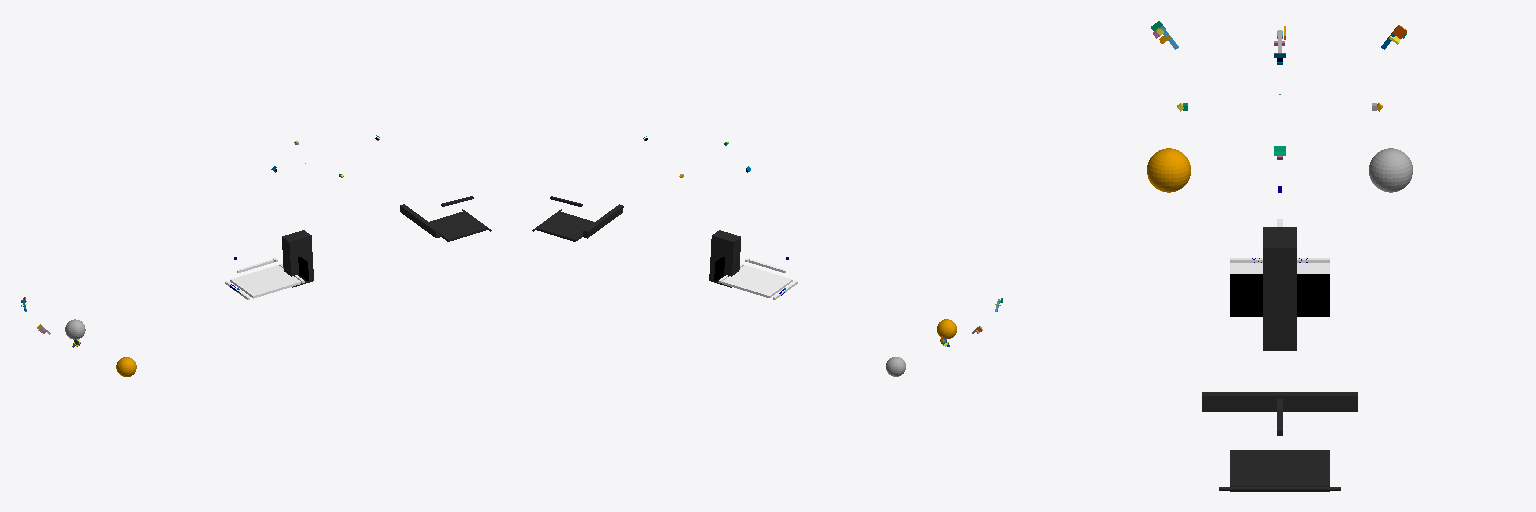
--- What the picture shows (computed from the rendered views, not written in the file) ---
Views: 3 orthographic renders of the robot side by side, from view 1: azimuth 30°, elevation 25°; view 2: azimuth 150°, elevation 25°; view 3: azimuth 270°, elevation 25°.
Robot: kubo — 121 links, 120 joints (5 revolute, 4 continuous, 111 fixed); root link base_link; default pose: all joints at 0.
Visible links, largest first — view 1: hitch_rear_lower_linkage, tractor_chassis, lower_linkage_front; view 2: hitch_rear_lower_linkage, tractor_chassis, lower_linkage_front; view 3: tractor_chassis, lower_linkage_front, frontaxle, hitch_rear_base_link, implement_caster_wheel_left, implement_caster_wheel_right, hitch_rear_lower_linkage.
Link boxes in pixels (<box>): hitch_rear_lower_linkage: <box>230,265,300,298</box>; tractor_chassis: <box>282,230,313,287</box>; lower_linkage_front: <box>430,211,487,241</box>; hitch_rear_lower_linkage: <box>722,265,792,297</box>; tractor_chassis: <box>709,230,740,287</box>; lower_linkage_front: <box>536,211,593,241</box>; tractor_chassis: <box>1263,227,1296,350</box>; lower_linkage_front: <box>1230,450,1329,491</box>; frontaxle: <box>1202,392,1357,411</box>; hitch_rear_base_link: <box>1230,274,1329,316</box>; implement_caster_wheel_left: <box>1369,148,1412,192</box>; implement_caster_wheel_right: <box>1147,148,1190,192</box>; hitch_rear_lower_linkage: <box>1230,263,1329,273</box>.
Bounding box of the posed robot: 9.91 × 2.4 × 3.34 m (x, y, z).
2 mesh visuals loaded from 1 distinct referenced files (1 Collada DAE); not drawn: 17 (reference in a form the renderer does not follow; not among the files counted above).

The robot description file, URDF, robot "kubo":
<?xml version="1.0" ?>
<!-- =================================================================================== -->
<!-- |    This document was autogenerated by xacro from lemken_john_deere_6r.urdf.xacro | -->
<!-- |    EDITING THIS FILE BY HAND IS NOT RECOMMENDED                                 | -->
<!-- =================================================================================== -->
<robot name="kubo">
  <!-- DISCLAIMER -->
  <!-- 
        Due to the nature of xacro and to avoid macros with long param list.
        We decided to have a file with global variables for the definition of the vehicles. This global
        variables shoudln't be used in any other file that isn't: 
        * variables.urdf.xacro
        * macros.shocks.urdf.xacro
        * macros.wheels.urdf.xacro
        * desciption.urdf.xacro
        -->
  <!-- chassis_length is measured along the x axis, chassis_width
       along the y axis, and chassis_height along the z axis.
       Note: Size of chassis won't affect wheel position or function, so be
       careful about making it too big-->
  <!-- base_link -->
  <link name="base_link"/>
  <!-- Robot Footprint -->
  <link name="base_footprint"/>
  <joint name="base_joint" type="fixed">
    <parent link="base_link"/>
    <child link="base_footprint"/>
    <origin rpy="0 0 0" xyz="1.3825 0.0 0.0"/>
  </joint>
  <!-- Chassis -->
  <link name="tractor_chassis">
    <visual>
      <origin xyz="0 0 0"/>
      <geometry>
        <box size="0.5 0.3 1.0"/>
      </geometry>
      <material name="grey">
        <color rgba="0.2 0.2 0.2 1.0"/>
      </material>
    </visual>
    <!--collision>
                                <origin xyz="0 0 0" rpy=" 0 0 0" />
                                <geometry>
                                        <box size="${chassis_length} ${chassis_width} ${chassis_height}" />
                                </geometry>
                        </collision-->
    <inertial>
      <origin rpy=" 0 0 0" xyz="0 0 0"/>
      <mass value="500"/>
      <inertia ixx="45.416666666666664" ixy="0" ixz="0" iyy="52.083333333333336" iyz="0" izz="14.166666666666664"/>
    </inertial>
  </link>
  <joint name="base_link_to_chassis" type="fixed">
    <parent link="base_link"/>
    <child link="tractor_chassis"/>
    <origin rpy="0 -0.06 0" xyz="0 0 1.0"/>
    <!-- rpy="0 -0.05 0" -->
  </joint>
  <!-- std_vehicle_frame -->
  <link name="std_vehicle_frame"/>
  <joint name="std_vehicle_frame_joint" type="fixed">
    <parent link="tractor_chassis"/>
    <child link="std_vehicle_frame"/>
    <origin rpy="0 0 0" xyz="1.3825 0.0 -0.05500000000000005"/>
  </joint>
  <!-- cover -->
  <link name="cover">
    <visual>
      <origin rpy="0 0 1.57079633" xyz="1.22 0.0 -0.945"/>
      <geometry>
        <mesh filename="file://[local-path]/ws/common_ws/install/vehicle_description/share/vehicle_description/models/john_deere_6r/meshes/JD6M.dae"/>
      </geometry>
      <material name="grey">
        <color rgba="0.2 0.2 0.2 1.0"/>
      </material>
    </visual>
    <collision>
      <origin rpy="0 0 1.57079633" xyz="1.22 0.0 -0.945"/>
      <geometry>
        <mesh filename="file://[local-path]/ws/common_ws/install/vehicle_description/share/vehicle_description/models/john_deere_6r/meshes/JD6M.dae"/>
      </geometry>
    </collision>
    <inertial>
      <origin xyz="0 0 0"/>
      <mass value="1"/>
      <inertia ixx="0.006666666666666668" ixy="0" ixz="0" iyy="0.5241666666666667" iyz="0" izz="0.5241666666666667"/>
    </inertial>
  </link>
  <joint name="cover_to_chassis" type="fixed">
    <parent link="tractor_chassis"/>
    <child link="cover"/>
    <origin rpy="0 0 0" xyz="0 0 0"/>
  </joint>
  <!-- frontaxle -->
  <link name="frontaxle">
    <visual>
      <origin xyz="0 0 0"/>
      <geometry>
        <box size="0.1 1.4 0.15"/>
      </geometry>
      <material name="grey">
        <color rgba="0.2 0.2 0.2 1.0"/>
      </material>
    </visual>
    <!--collision>
                                <origin xyz="0 0 0" />
                                <geometry>
                                        <box size="0.1 1.4 0.15" />
                                </geometry>
                        </collision-->
    <inertial>
      <origin xyz="0 0 0"/>
      <mass value="0.0001"/>
      <inertia ixx="1.652083333333333e-05" ixy="0" ixz="0" iyy="2.7083333333333337e-07" iyz="0" izz="1.6416666666666665e-05"/>
    </inertial>
  </link>
  <joint name="frontaxle_to_chassis" type="fixed">
    <parent link="tractor_chassis"/>
    <child link="frontaxle"/>
    <origin rpy="0 0 0" xyz="2.765 0 0"/>
    <axis xyz="1 0 0"/>
    <limit effort="0" lower="-0.785398163" upper="0.785398163" velocity="10"/>
  </joint>
  <joint name="left_front_shock" type="fixed">
    <parent link="frontaxle"/>
    <child link="left_steering_link"/>
    <origin xyz="0                    1.05                    -0.2865"/>
    <axis xyz="0 0 -1"/>
    <!--limit lower="${-wheel_travel / 2}" upper="${wheel_travel / 2}" effort="${shock_eff_limit}" velocity="${shock_vel_limit}"/-->
  </joint>
  <!--transmission name="${lr_prefix}_${fr_prefix}_shock_trans">
      <type>transmission_interface/SimpleTransmission</type>
      <joint name="${lr_prefix}_${fr_prefix}_shock">
        <hardwareInterface>hardware_interface/EffortJointInterface</hardwareInterface>
      </joint>
      <actuator name="${lr_prefix}_${fr_prefix}_shock_act"-->
  <!-- This hardwareInterface element exists for compatibility
             with ROS Hydro. -->
  <!--hardwareInterface>hardware_interface/EffortJointInterface</hardwareInterface>
        <mechanicalReduction>1</mechanicalReduction>
      </actuator>
    </transmission-->
  <link name="left_steering_link">
    <!--xacro:null_inertial/-->
    <inertial>
      <mass value="0.001"/>
      <origin rpy=" 0 0 0" xyz="0 0 0"/>
      <inertia ixx="1e-2" ixy="0" ixz="0" iyy="1e-3" iyz="0" izz="1e-3"/>
    </inertial>
  </link>
  <joint name="left_steering_joint" type="revolute">
    <parent link="left_steering_link"/>
    <child link="left_front_axle_carrier"/>
    <axis xyz="0 0 1"/>
    <limit effort="5649" lower="-0.785398163" upper="0.785398163" velocity="4553"/>
  </joint>
  <transmission name="left_steering_trans">
    <type>transmission_interface/SimpleTransmission</type>
    <joint name="left_steering_joint">
      <hardwareInterface>hardware_interface/EffortJointInterface</hardwareInterface>
    </joint>
    <actuator name="left_steering_act">
      <!-- This hardwareInterface element exists for compatibility
             with ROS Hydro. -->
      <hardwareInterface>hardware_interface/EffortJointInterface</hardwareInterface>
      <mechanicalReduction>1</mechanicalReduction>
    </actuator>
  </transmission>
  <link name="left_front_axle_carrier">
    <inertial>
      <mass value="0.0005"/>
      <origin rpy=" 0 0 0" xyz="0 0 0"/>
      <inertia ixx="0.001" ixy="0" ixz="0" iyy="0.001" iyz="0" izz="0.001"/>
    </inertial>
  </link>
  <!-- The left and right axles have the same axis so that identical
         rotation values cause the wheels to rotate in the same direction. -->
  <joint name="left_front_axle" type="continuous">
    <parent link="left_front_axle_carrier"/>
    <child link="left_front_wheel"/>
    <origin rpy="1.57079633 0 0"/>
    <axis xyz="0 0 -1"/>
    <limit effort="512766" velocity="100"/>
  </joint>
  <transmission name="left_front_axle_trans">
    <type>transmission_interface/SimpleTransmission</type>
    <joint name="left_front_axle">
      <hardwareInterface>hardware_interface/EffortJointInterface</hardwareInterface>
    </joint>
    <actuator name="left_front_axle_act">
      <!-- This hardwareInterface element exists for compatibility
             with ROS Hydro. -->
      <hardwareInterface>hardware_interface/EffortJointInterface</hardwareInterface>
      <mechanicalReduction>1</mechanicalReduction>
    </actuator>
  </transmission>
  <link name="left_front_wheel">
    <visual>
      <origin rpy="1.57079633 0 0" xyz="0 -0.0 0"/>
      <geometry>
        <mesh filename="file://[local-path]/ws/common_ws/install/vehicle_description/share/vehicle_description/models/john_deere_6r/meshes/front_wheel.dae" scale="1.9819444444444445 2.938888888888889 1.9819444444444445"/>
      </geometry>
    </visual>
    <collision>
      <origin xyz="0 -0.0 0"/>
      <geometry>
        <cylinder length="0.1" radius="0.7135"/>
      </geometry>
      <surface>
        <friction>
          <ode>
            <mu>1</mu>
            <mu2>0.25</mu2>
            <slip1>0.00001</slip1>
            <slip2>0.00001</slip2>
          </ode>
        </friction>
        <contact>
          <ode>
            <soft_cfm>0</soft_cfm>
            <soft_erp>0.2</soft_erp>
            <kp>1e+10</kp>
            <kd>1</kd>
            <min_depth>0.01</min_depth>
          </ode>
        </contact>
      </surface>
    </collision>
    <inertial>
      <mass value="10"/>
      <inertia ixx="1.3060389583333334" ixy="0" ixz="0" iyy="1.3060389583333334" iyz="0" izz="2.5954112500000006"/>
    </inertial>
  </link>
  <joint name="right_front_shock" type="fixed">
    <parent link="frontaxle"/>
    <child link="right_steering_link"/>
    <origin xyz="0                    -1.05                    -0.2865"/>
    <axis xyz="0 0 -1"/>
    <!--limit lower="${-wheel_travel / 2}" upper="${wheel_travel / 2}" effort="${shock_eff_limit}" velocity="${shock_vel_limit}"/-->
  </joint>
  <!--transmission name="${lr_prefix}_${fr_prefix}_shock_trans">
      <type>transmission_interface/SimpleTransmission</type>
      <joint name="${lr_prefix}_${fr_prefix}_shock">
        <hardwareInterface>hardware_interface/EffortJointInterface</hardwareInterface>
      </joint>
      <actuator name="${lr_prefix}_${fr_prefix}_shock_act"-->
  <!-- This hardwareInterface element exists for compatibility
             with ROS Hydro. -->
  <!--hardwareInterface>hardware_interface/EffortJointInterface</hardwareInterface>
        <mechanicalReduction>1</mechanicalReduction>
      </actuator>
    </transmission-->
  <link name="right_steering_link">
    <!--xacro:null_inertial/-->
    <inertial>
      <mass value="0.001"/>
      <origin rpy=" 0 0 0" xyz="0 0 0"/>
      <inertia ixx="1e-2" ixy="0" ixz="0" iyy="1e-3" iyz="0" izz="1e-3"/>
    </inertial>
  </link>
  <joint name="right_steering_joint" type="revolute">
    <parent link="right_steering_link"/>
    <child link="right_front_axle_carrier"/>
    <axis xyz="0 0 1"/>
    <limit effort="5649" lower="-0.785398163" upper="0.785398163" velocity="4553"/>
  </joint>
  <transmission name="right_steering_trans">
    <type>transmission_interface/SimpleTransmission</type>
    <joint name="right_steering_joint">
      <hardwareInterface>hardware_interface/EffortJointInterface</hardwareInterface>
    </joint>
    <actuator name="right_steering_act">
      <!-- This hardwareInterface element exists for compatibility
             with ROS Hydro. -->
      <hardwareInterface>hardware_interface/EffortJointInterface</hardwareInterface>
      <mechanicalReduction>1</mechanicalReduction>
    </actuator>
  </transmission>
  <link name="right_front_axle_carrier">
    <inertial>
      <mass value="0.0005"/>
      <origin rpy=" 0 0 0" xyz="0 0 0"/>
      <inertia ixx="0.001" ixy="0" ixz="0" iyy="0.001" iyz="0" izz="0.001"/>
    </inertial>
  </link>
  <!-- The left and right axles have the same axis so that identical
         rotation values cause the wheels to rotate in the same direction. -->
  <joint name="right_front_axle" type="continuous">
    <parent link="right_front_axle_carrier"/>
    <child link="right_front_wheel"/>
    <origin rpy="1.57079633 0 0"/>
    <axis xyz="0 0 -1"/>
    <limit effort="512766" velocity="100"/>
  </joint>
  <transmission name="right_front_axle_trans">
    <type>transmission_interface/SimpleTransmission</type>
    <joint name="right_front_axle">
      <hardwareInterface>hardware_interface/EffortJointInterface</hardwareInterface>
    </joint>
    <actuator name="right_front_axle_act">
      <!-- This hardwareInterface element exists for compatibility
             with ROS Hydro. -->
      <hardwareInterface>hardware_interface/EffortJointInterface</hardwareInterface>
      <mechanicalReduction>1</mechanicalReduction>
    </actuator>
  </transmission>
  <link name="right_front_wheel">
    <visual>
      <origin rpy="-1.57079633 0 0" xyz="0 0.0 0"/>
      <geometry>
        <mesh filename="file://[local-path]/ws/common_ws/install/vehicle_description/share/vehicle_description/models/john_deere_6r/meshes/front_wheel.dae" scale="1.9819444444444445 2.938888888888889 1.9819444444444445"/>
      </geometry>
    </visual>
    <collision>
      <origin xyz="0 0.0 0"/>
      <geometry>
        <cylinder length="0.1" radius="0.7135"/>
      </geometry>
      <surface>
        <friction>
          <ode>
            <mu>1</mu>
            <mu2>0.25</mu2>
            <slip1>0.00001</slip1>
            <slip2>0.00001</slip2>
          </ode>
        </friction>
        <contact>
          <ode>
            <soft_cfm>0</soft_cfm>
            <soft_erp>0.2</soft_erp>
            <kp>1e+10</kp>
            <kd>1</kd>
            <min_depth>0.01</min_depth>
          </ode>
        </contact>
      </surface>
    </collision>
    <inertial>
      <mass value="10"/>
      <inertia ixx="1.3060389583333334" ixy="0" ixz="0" iyy="1.3060389583333334" iyz="0" izz="2.5954112500000006"/>
    </inertial>
  </link>
  <joint name="left_rear_shock" type="fixed">
    <parent link="tractor_chassis"/>
    <child link="left_rear_axle_carrier"/>
    <origin xyz="0.0                    0.925                    -0.05500000000000005"/>
    <axis xyz="0 0 -1"/>
    <!--limit lower="${-wheel_travel / 2}" upper="${wheel_travel / 2}" effort="${shock_eff_limit}" velocity="${shock_vel_limit}"/-->
  </joint>
  <!--transmission name="${lr_prefix}_${fr_prefix}_shock_trans">
      <type>transmission_interface/SimpleTransmission</type>
      <joint name="${lr_prefix}_${fr_prefix}_shock">
        <hardwareInterface>hardware_interface/EffortJointInterface</hardwareInterface>
      </joint>
      <actuator name="${lr_prefix}_${fr_prefix}_shock_act"-->
  <!-- This hardwareInterface element exists for compatibility
             with ROS Hydro. -->
  <!--hardwareInterface>hardware_interface/EffortJointInterface</hardwareInterface>
        <mechanicalReduction>1</mechanicalReduction>
      </actuator>
    </transmission-->
  <link name="left_rear_axle_carrier">
    <!--xacro:null_inertial/-->
    <inertial>
      <mass value="0.001"/>
      <origin rpy=" 0 0 0" xyz="0 0 0"/>
      <inertia ixx="1e-2" ixy="0" ixz="0" iyy="1e-3" iyz="0" izz="1e-3"/>
    </inertial>
  </link>
  <!-- The left and right axles have the same axis so that identical
         rotation values cause the wheels to rotate in the same direction. -->
  <joint name="left_rear_axle" type="continuous">
    <parent link="left_rear_axle_carrier"/>
    <child link="left_rear_wheel"/>
    <origin rpy="1.57079633 0 0"/>
    <axis xyz="0 0 -1"/>
    <limit effort="512766" velocity="100"/>
  </joint>
  <transmission name="left_rear_axle_trans">
    <type>transmission_interface/SimpleTransmission</type>
    <joint name="left_rear_axle">
      <hardwareInterface>hardware_interface/EffortJointInterface</hardwareInterface>
    </joint>
    <actuator name="left_rear_axle_act">
      <!-- This hardwareInterface element exists for compatibility
             with ROS Hydro. -->
      <hardwareInterface>hardware_interface/EffortJointInterface</hardwareInterface>
      <mechanicalReduction>1</mechanicalReduction>
    </actuator>
  </transmission>
  <link name="left_rear_wheel">
    <visual>
      <origin rpy="1.57079633 0 0" xyz="0 -0.0 0"/>
      <geometry>
        <mesh filename="file://[local-path]/ws/common_ws/install/vehicle_description/share/vehicle_description/models/john_deere_6r/meshes/rear_wheel.dae" scale="2.5 3.588888888888889 2.5"/>
      </geometry>
    </visual>
    <collision>
      <origin xyz="0  -0.0 0"/>
      <geometry>
        <cylinder length="0.1" radius="0.945"/>
        <surface>
          <friction>
            <ode>
              <mu>1</mu>
              <mu2>0.25</mu2>
              <slip1>0.00001</slip1>
              <slip2>0.00001</slip2>
            </ode>
          </friction>
          <contact>
            <ode>
              <soft_cfm>0</soft_cfm>
              <soft_erp>0.2</soft_erp>
              <kp>1e+10</kp>
              <kd>1</kd>
              <min_depth>0.01</min_depth>
            </ode>
          </contact>
        </surface>
      </geometry>
    </collision>
    <inertial>
      <mass value="10.0"/>
      <inertia ixx="2.265895833333333" ixy="0" ixz="0" iyy="2.265895833333333" iyz="0" izz="4.515124999999999"/>
    </inertial>
  </link>
  <joint name="right_rear_shock" type="fixed">
    <parent link="tractor_chassis"/>
    <child link="right_rear_axle_carrier"/>
    <origin xyz="0.0                    -0.925                    -0.05500000000000005"/>
    <axis xyz="0 0 -1"/>
    <!--limit lower="${-wheel_travel / 2}" upper="${wheel_travel / 2}" effort="${shock_eff_limit}" velocity="${shock_vel_limit}"/-->
  </joint>
  <!--transmission name="${lr_prefix}_${fr_prefix}_shock_trans">
      <type>transmission_interface/SimpleTransmission</type>
      <joint name="${lr_prefix}_${fr_prefix}_shock">
        <hardwareInterface>hardware_interface/EffortJointInterface</hardwareInterface>
      </joint>
      <actuator name="${lr_prefix}_${fr_prefix}_shock_act"-->
  <!-- This hardwareInterface element exists for compatibility
             with ROS Hydro. -->
  <!--hardwareInterface>hardware_interface/EffortJointInterface</hardwareInterface>
        <mechanicalReduction>1</mechanicalReduction>
      </actuator>
    </transmission-->
  <link name="right_rear_axle_carrier">
    <!--xacro:null_inertial/-->
    <inertial>
      <mass value="0.001"/>
      <origin rpy=" 0 0 0" xyz="0 0 0"/>
      <inertia ixx="1e-2" ixy="0" ixz="0" iyy="1e-3" iyz="0" izz="1e-3"/>
    </inertial>
  </link>
  <!-- The left and right axles have the same axis so that identical
         rotation values cause the wheels to rotate in the same direction. -->
  <joint name="right_rear_axle" type="continuous">
    <parent link="right_rear_axle_carrier"/>
    <child link="right_rear_wheel"/>
    <origin rpy="1.57079633 0 0"/>
    <axis xyz="0 0 -1"/>
    <limit effort="512766" velocity="100"/>
  </joint>
  <transmission name="right_rear_axle_trans">
    <type>transmission_interface/SimpleTransmission</type>
    <joint name="right_rear_axle">
      <hardwareInterface>hardware_interface/EffortJointInterface</hardwareInterface>
    </joint>
    <actuator name="right_rear_axle_act">
      <!-- This hardwareInterface element exists for compatibility
             with ROS Hydro. -->
      <hardwareInterface>hardware_interface/EffortJointInterface</hardwareInterface>
      <mechanicalReduction>1</mechanicalReduction>
    </actuator>
  </transmission>
  <link name="right_rear_wheel">
    <visual>
      <origin rpy="-1.57079633 0 0" xyz="0 0.0 0"/>
      <geometry>
        <mesh filename="file://[local-path]/ws/common_ws/install/vehicle_description/share/vehicle_description/models/john_deere_6r/meshes/rear_wheel.dae" scale="2.5 3.588888888888889 2.5"/>
      </geometry>
    </visual>
    <collision>
      <origin xyz="0  0.0 0"/>
      <geometry>
        <cylinder length="0.1" radius="0.945"/>
        <surface>
          <friction>
            <ode>
              <mu>1</mu>
              <mu2>0.25</mu2>
              <slip1>0.00001</slip1>
              <slip2>0.00001</slip2>
            </ode>
          </friction>
          <contact>
            <ode>
              <soft_cfm>0</soft_cfm>
              <soft_erp>0.2</soft_erp>
              <kp>1e+10</kp>
              <kd>1</kd>
              <min_depth>0.01</min_depth>
            </ode>
          </contact>
        </surface>
      </geometry>
    </collision>
    <inertial>
      <mass value="10.0"/>
      <inertia ixx="2.265895833333333" ixy="0" ixz="0" iyy="2.265895833333333" iyz="0" izz="4.515124999999999"/>
    </inertial>
  </link>
  <!-- Base Link -->
  <joint name="hitch_rear_base_joint" type="fixed">
    <origin rpy="0 0 0" xyz="-0.05 0 -0.28"/>
    <parent link="tractor_chassis"/>
    <child link="hitch_rear_base_link"/>
  </joint>
  <link name="hitch_rear_base_link">
    <collision>
      <origin rpy="0 0 0" xyz="0 0 0.2"/>
      <geometry>
        <box size="0.05 0.9 0.4"/>
      </geometry>
    </collision>
    <visual>
      <origin rpy="0 0 0" xyz="0 0 0.2"/>
      <geometry>
        <box size="0.05 0.9 0.4"/>
      </geometry>
      <material name="black">
        <color rgba="0.0 0.0 0.0 1.0"/>
      </material>
    </visual>
    <inertial>
      <origin rpy="0 0 0" xyz="0 0 0.2"/>
      <mass value="1"/>
      <inertia ixx="0.013541666666666669" ixy="0" ixz="0" iyy="0.08083333333333334" iyz="0" izz="0.06770833333333333"/>
    </inertial>
  </link>
  <!-- Upper linkage point -->
  <joint name="hitch_rear_upper_linkage_point_to_base" type="revolute">
    <parent link="hitch_rear_base_link"/>
    <child link="hitch_rear_upper_linkage_point"/>
    <origin rpy="0 0 0" xyz="-0.45 0 0.4"/>
    <axis xyz="0 1 0"/>
    <dynamics damping="0.7"/>
    <limit effort="100" lower="-1.57" upper="1.57" velocity="10"/>
  </joint>
  <link name="hitch_rear_upper_linkage_point">
    <collision>
      <origin rpy="0 0 0" xyz="0 0 0"/>
      <geometry>
        <box size="0.05 0.1 0.05"/>
      </geometry>
    </collision>
    <visual>
      <origin rpy="0 0 0" xyz="0 0 0"/>
      <geometry>
        <box size="0.05 0.1 0.05"/>
      </geometry>
      <material name="white">
        <color rgba="1.0 1.0 1.0 1.0"/>
      </material>
    </visual>
    <inertial>
      <origin rpy="0 0 0" xyz="0 0 0"/>
      <mass value="1"/>
      <inertia ixx="0.00041666666666666675" ixy="0" ixz="0" iyy="0.0010416666666666669" iyz="0" izz="0.0010416666666666669"/>
    </inertial>
  </link>
  <!-- Upper linkage -->
  <joint name="hitch_rear_upper_linkage_to_upper_linkage_point" type="fixed">
    <parent link="hitch_rear_upper_linkage_point"/>
    <child link="hitch_rear_upper_linkage"/>
    <origin rpy="0 0 0" xyz="-0.8600000000000001 0 0"/>
    <axis xyz="0 1 0"/>
  </joint>
  <link name="hitch_rear_upper_linkage">
    <collision>
      <origin rpy="0 0 0" xyz="0.405 0 0"/>
      <geometry>
        <box size="0.81 0.05 0.05"/>
      </geometry>
    </collision>
    <visual>
      <origin rpy="0 0 0" xyz="0.405 0 0"/>
      <geometry>
        <box size="0.81 0.05 0.05"/>
      </geometry>
      <material name="white">
        <color rgba="1.0 1.0 1.0 1.0"/>
      </material>
    </visual>
    <inertial>
      <origin rpy="0 0 0" xyz="0 0 0.405"/>
      <mass value="1"/>
      <inertia ixx="0.05488333333333334" ixy="0" ixz="0" iyy="0.00041666666666666675" iyz="0" izz="0.05488333333333334"/>
    </inertial>
  </link>
  <!-- =========== -->
  <!-- Lower linkage point -->
  <joint name="hitch_rear_lower_linkage_point_to_base" type="revolute">
    <parent link="hitch_rear_base_link"/>
    <child link="hitch_rear_lower_linkage_point"/>
    <origin rpy="0 0 0" xyz="-0.1 0 0"/>
    <axis xyz="0 1 0"/>
    <dynamics damping="0.7"/>
    <limit effort="1000" lower="-0.26" upper="0.5" velocity="10"/>
  </joint>
  <link name="hitch_rear_lower_linkage_point">
    <collision>
      <origin rpy="0 0 0" xyz="0 0 0"/>
      <geometry>
        <box size="0.05 0.9 0.05"/>
      </geometry>
    </collision>
    <visual>
      <origin rpy="0 0 0" xyz="0 0 0"/>
      <geometry>
        <box size="0.05 0.9 0.05"/>
      </geometry>
      <material name="white">
        <color rgba="1.0 1.0 1.0 1.0"/>
      </material>
    </visual>
    <inertial>
      <origin rpy="0 0 0" xyz="0 0 0"/>
      <mass value="1"/>
      <inertia ixx="0.00041666666666666675" ixy="0" ixz="0" iyy="0.06770833333333333" iyz="0" izz="0.06770833333333333"/>
    </inertial>
  </link>
  <!-- Lower linkage -->
  <joint name="hitch_rear_lower_linkage_to_lower_linkage_point" type="fixed">
    <parent link="hitch_rear_lower_linkage_point"/>
    <child link="hitch_rear_lower_linkage"/>
    <origin rpy="0 0 0" xyz="-1.135 0 0"/>
    <axis xyz="0 0 0"/>
  </joint>
  <link name="hitch_rear_lower_linkage">
    <collision>
      <origin rpy="0 0 0" xyz="0.5425 0 0"/>
      <geometry>
        <box size="1.085 0.9 0.05"/>
      </geometry>
    </collision>
    <visual>
      <origin rpy="0 0 0" xyz="0.5425 0 0"/>
      <geometry>
        <box size="1.085 0.9 0.05"/>
      </geometry>
      <material name="white">
        <color rgba="1.0 1.0 1.0 1.0"/>
      </material>
    </visual>
    <inertial>
      <origin rpy="0 0 0" xyz="0.5425 0 0"/>
      <mass value="1"/>
      <inertia ixx="0.09831041666666666" ixy="0" ixz="0" iyy="0.06770833333333333" iyz="0" izz="0.16560208333333334"/>
    </inertial>
  </link>
  <!-- Lower hitch point -->
  <joint name="hitch_rear_lower_hitch_point_to_lower_linkage" type="revolute">
    <parent link="hitch_rear_lower_linkage"/>
    <child link="hitch_rear_lower_hitch_point"/>
    <origin rpy="0 0 0" xyz="-0.1 0 0"/>
    <axis xyz="0 1 0"/>
    <dynamics damping="0.7"/>
    <limit effort="1000" lower="-1.57" upper="1.57" velocity="10"/>
  </joint>
  <link name="hitch_rear_lower_hitch_point">
    <collision>
      <origin rpy="0 0 0" xyz="0 0 0"/>
      <geometry>
        <box size="0.05 0.9 0.05"/>
      </geometry>
    </collision>
    <visual>
      <origin rpy="0 0 0" xyz="0 0 0"/>
      <geometry>
        <box size="0.05 0.9 0.05"/>
      </geometry>
      <material name="white">
        <color rgba="1.0 1.0 1.0 1.0"/>
      </material>
    </visual>
    <inertial>
      <origin rpy="0 0 0" xyz="0 0 0"/>
      <mass value="1"/>
      <inertia ixx="0.00041666666666666675" ixy="0" ixz="0" iyy="0.06770833333333333" iyz="0" izz="0.06770833333333333"/>
    </inertial>
  </link>
  <!-- hitch base -->
  <gazebo reference="hitch_rear_base_link">
    <material>Gazebo/Black</material>
  </gazebo>
  <!-- lower linkage point -->
  <gazebo reference="hitch_rear_lower_linkage_point">
    <mu1>0.2</mu1>
    <mu2>0.2</mu2>
    <material>Gazebo/Black</material>
  </gazebo>
  <!-- lower linkage -->
  <gazebo reference="hitch_rear_lower_linkage">
    <mu1>0.2</mu1>
    <mu2>0.2</mu2>
    <material>Gazebo/Gray</material>
  </gazebo>
  <!-- lower hitch point -->
  <gazebo reference="hitch_rear_lower_hitch_point">
    <mu1>0.2</mu1>
    <mu2>0.2</mu2>
    <material>Gazebo/Black</material>
  </gazebo>
  <!-- upper linkage -->
  <gazebo reference="hitch_rear_upper_linkage">
    <mu1>0.2</mu1>
    <mu2>0.2</mu2>
    <material>Gazebo/Gray</material>
  </gazebo>
  <gazebo reference="hitch_rear_upper_linkage_point">
    <mu1>0.2</mu1>
    <mu2>0.2</mu2>
    <material>Gazebo/Black</material>
  </gazebo>
  <ros2_control name="HitchRearSystem" type="system">
    <hardware>
      <plugin>gazebo_ros2_control/GazeboSystem</plugin>
    </hardware>
    <joint name="hitch_rear_lower_linkage_point_to_base">
      <command_interface name="position">
        <param name="min">-1</param>
        <param name="max">1</param>
      </command_interface>
      <state_interface name="position"/>
    </joint>
    <joint name="hitch_rear_lower_hitch_point_to_lower_linkage">
      <command_interface name="position">
        <param name="min">-1</param>
        <param name="max">1</param>
      </command_interface>
      <state_interface name="position"/>
    </joint>
    <joint name="hitch_rear_upper_linkage_point_to_base">
      <command_interface name="position">
        <param name="min">-1</param>
        <param name="max">1</param>
      </command_interface>
      <state_interface name="position"/>
    </joint>
  </ros2_control>
  <!-- Lower linkage front -->
  <link name="lower_linkage_front">
    <visual>
      <origin xyz="0.45 0 0"/>
      <geometry>
        <box size="0.9 0.9 0.05"/>
      </geometry>
      <material name="grey">
        <color rgba="0.2 0.2 0.2 1.0"/>
      </material>
    </visual>
    <collision>
      <origin xyz="0.45 0 0"/>
      <geometry>
        <box size="0.9 0.9 0.05"/>
      </geometry>
    </collision>
    <inertial>
      <origin xyz="0.45 0 0"/>
      <mass value="1e-05"/>
      <inertia ixx="6.770833333333335e-07" ixy="0" ixz="0" iyy="6.770833333333335e-07" iyz="0" izz="1.35e-06"/>
    </inertial>
  </link>
  <joint name="lower_linkage_front_to_chassis" type="fixed">
    <parent link="tractor_chassis"/>
    <child link="lower_linkage_front"/>
    <limit effort="100" lower="-0.5" upper="0.26" velocity="1"/>
    <origin rpy="0 0 0" xyz="3.115 0 -0.35"/>
    <axis xyz="0 1 0"/>
  </joint>
  <!-- Lower hitch point front -->
  <link name="lower_hitch_point_front">
    <visual>
      <origin rpy="1.57079633 0 0" xyz="0 0 0"/>
      <geometry>
        <cylinder length="1.1" radius="0.02"/>
      </geometry>
      <material name="grey">
        <color rgba="0.2 0.2 0.2 1.0"/>
      </material>
    </visual>
    <collision>
      <origin rpy="1.57079633 0 0" xyz="0 0 0"/>
      <geometry>
        <cylinder length="1.1" radius="0.02"/>
      </geometry>
    </collision>
    <inertial>
      <origin xyz="0 0 0"/>
      <mass value="0.0001"/>
      <inertia ixx="1.0086666666666668e-05" ixy="0" ixz="0" iyy="6.666666666666667e-09" iyz="0" izz="1.0086666666666668e-05"/>
    </inertial>
  </link>
  <joint name="lower_hitch_point_front_to_lower_linkage_front" type="fixed">
    <parent link="lower_linkage_front"/>
    <child link="lower_hitch_point_front"/>
    <origin rpy="0 0 0" xyz="0.9 0 0"/>
    <axis xyz="0 1 0"/>
  </joint>
  <!-- Upper linkage front -->
  <link name="upper_linkage_front">
    <visual>
      <origin xyz="0.35 0 0"/>
      <geometry>
        <box size="0.7 0.05 0.05"/>
      </geometry>
      <material name="grey">
        <color rgba="0.2 0.2 0.2 1.0"/>
      </material>
    </visual>
    <collision>
      <origin xyz="0.35 0 0"/>
      <geometry>
        <box size="0.7 0.05 0.05"/>
      </geometry>
    </collision>
    <inertial>
      <origin xyz="0.35 0 0"/>
      <mass value="1e-05"/>
      <inertia ixx="4.1666666666666676e-09" ixy="0" ixz="0" iyy="4.104166666666666e-07" iyz="0" izz="4.104166666666666e-07"/>
    </inertial>
  </link>
  <joint name="upper_linkage_front_to_chassis" type="fixed">
    <parent link="tractor_chassis"/>
    <child link="upper_linkage_front"/>
    <limit effort="100" lower="-0.26" upper="0.50" velocity="1"/>
    <origin rpy="0 0.05 0" xyz="3.265 0 0.2"/>
    <axis xyz="0 1 0"/>
  </joint>
  <!-- hitch base -->
  <gazebo reference="hitch_front_base_link">
    <material>Gazebo/Black</material>
  </gazebo>
  <!-- lower linkage point -->
  <gazebo reference="hitch_front_lower_linkage_point">
    <mu1>0.2</mu1>
    <mu2>0.2</mu2>
    <material>Gazebo/Black</material>
  </gazebo>
  <!-- lower linkage -->
  <gazebo reference="hitch_front_lower_linkage">
    <mu1>0.2</mu1>
    <mu2>0.2</mu2>
    <material>Gazebo/Gray</material>
  </gazebo>
  <!-- lower hitch point -->
  <gazebo reference="hitch_front_lower_hitch_point">
    <mu1>0.2</mu1>
    <mu2>0.2</mu2>
    <material>Gazebo/Black</material>
  </gazebo>
  <!-- upper linkage -->
  <gazebo reference="hitch_front_upper_linkage">
    <mu1>0.2</mu1>
    <mu2>0.2</mu2>
    <material>Gazebo/Gray</material>
  </gazebo>
  <gazebo reference="hitch_front_upper_linkage_point">
    <mu1>0.2</mu1>
    <mu2>0.2</mu2>
    <material>Gazebo/Black</material>
  </gazebo>
  <ros2_control name="HitchFrontSystem" type="system">
    <hardware>
      <plugin>gazebo_ros2_control/GazeboSystem</plugin>
    </hardware>
    <joint name="hitch_front_lower_linkage_point_to_base">
      <command_interface name="position">
        <param name="min">-1</param>
        <param name="max">1</param>
      </command_interface>
      <state_interface name="position"/>
    </joint>
    <joint name="hitch_front_lower_hitch_point_to_lower_linkage">
      <command_interface name="position">
        <param name="min">-1</param>
        <param name="max">1</param>
      </command_interface>
      <state_interface name="position"/>
    </joint>
    <joint name="hitch_front_upper_linkage_point_to_base">
      <command_interface name="position">
        <param name="min">-1</param>
        <param name="max">1</param>
      </command_interface>
      <state_interface name="position"/>
    </joint>
  </ros2_control>
  <gazebo>
    <plugin filename="libgazebo_ros_ackermann_drive.so" name="ackermann_drive">
      <ros>
        <namespace>tractor/description</namespace>
        <remapping>cmd_vel:=cmd_vel</remapping>
        <remapping>odom:=odometry/wheel</remapping>
      </ros>
      <update_rate>100</update_rate>
      <!-- wheels -->
      <front_left_joint>left_front_axle</front_left_joint>
      <front_right_joint>right_front_axle</front_right_joint>
      <rear_left_joint>left_rear_axle</rear_left_joint>
      <rear_right_joint>right_rear_axle</rear_right_joint>
      <left_steering_joint>left_steering_joint</left_steering_joint>
      <right_steering_joint>right_steering_joint</right_steering_joint>
      <!-- <steering_wheel_joint></steering_wheel_joint> -->
      <!-- Max absolute steer angle for tire in radians-->
      <!-- Any cmd_vel angular z greater than this would be capped -->
      <max_steer>0.6458</max_steer>
      <!-- Max absolute steering angle of steering wheel -->
      <max_steering_angle>7.85</max_steering_angle>
      <!-- Max absolute linear speed in m/s -->
      <max_speed>20</max_speed>
      <!-- PID tuning -->
      <left_steering_pid_gain>1500 0 1</left_steering_pid_gain>
      <left_steering_i_range>0 0</left_steering_i_range>
      <right_steering_pid_gain>1500 0 1</right_steering_pid_gain>
      <right_steering_i_range>0 0</right_steering_i_range>
      <linear_velocity_pid_gain>1000 0 0</linear_velocity_pid_gain>
      <linear_velocity_i_range>0 0</linear_velocity_i_range>
      <!-- output -->
      <publish_odom>true</publish_odom>
      <publish_odom_tf>false</publish_odom_tf>
      <publish_wheel_tf>true</publish_wheel_tf>
      <publish_distance>false</publish_distance>
      <odometry_frame>odom</odometry_frame>
      <robot_base_frame>base_link</robot_base_frame>
    </plugin>
  </gazebo>
  <gazebo>
    <plugin filename="libgazebo_ros2_control.so" name="gazebo_ros2_control">
      <ros>
        <namespace>tractor/description</namespace>
      </ros>
      <robot_param>robot_description</robot_param>
      <robot_param_node>robot_state_publisher</robot_param_node>
      <parameters>[local-path]/ws/common_ws/install/generic_rear_hitch/share/generic_rear_hitch/config/hitch_control.yaml</parameters>
    </plugin>
  </gazebo>
  <!-- Roof base measurement point -->
  <link name="roof_base">
    <visual name="roof_base_visual">
      <origin rpy=" 0 0 0" xyz="0 0 0"/>
      <geometry>
        <box size="0.01 0.01 0.01"/>
      </geometry>
    </visual>
    <collision name="roof_base_collision">
      <origin rpy=" 0 0 0" xyz="0 0 0"/>
      <geometry>
        <box size="0.01 0.01 0.01"/>
      </geometry>
    </collision>
    <inertial>
      <mass value="0.01"/>
      <origin rpy=" 0 0 0" xyz="0 0 0"/>
      <inertia ixx="1e-6" ixy="0" ixz="0" iyy="1e-6" iyz="0" izz="1e-6"/>
    </inertial>
  </link>
  <joint name="roof_base_joint" type="fixed">
    <origin rpy="0 0 0" xyz="0.29 0 2.0"/>
    <parent link="tractor_chassis"/>
    <child link="roof_base"/>
  </joint>
  <!-- Front top mount -->
  <link name="front_top_mount">
    <visual name="front_top_mount_visual">
      <origin rpy=" 0 0 0" xyz="0 0 0"/>
      <geometry>
        <box size="0.1 0.1 0.005"/>
      </geometry>
    </visual>
    <collision name="front_top_mount_collision">
      <origin rpy=" 0 0 0" xyz="0 0 0"/>
      <geometry>
        <box size="0.1 0.1 0.005"/>
      </geometry>
    </collision>
    <inertial>
      <mass value="0.1"/>
      <origin rpy=" 0 0 0" xyz="0 0 0"/>
      <inertia ixx="1e-6" ixy="0" ixz="0" iyy="1e-6" iyz="0" izz="1e-6"/>
    </inertial>
  </link>
  <joint name="front_top_mount_joint" type="fixed">
    <origin rpy="0 0.7 0" xyz="1.65 0 0.1"/>
    <parent link="roof_base"/>
    <child link="front_top_mount"/>
  </joint>
  <!-- Ark cam mini bracket -->
  <link name="ark_cam_mini_bracket_front">
    <visual name="ark_cam_mini_bracket_front_visual">
      <origin rpy="1.57079 0 1.57079" xyz="0 0 0"/>
      <geometry>
        <mesh filename="package://sensor_description/models/arkvision_arkcam_mini/meshes/ark_cam_basic_bracket_red.dae" scale="0.001 0.001 0.001"/>
      </geometry>
    </visual>
    <collision name="ark_cam_mini_bracket_front_collision">
      <origin rpy=" 0 0 0" xyz="0 0 0"/>
      <geometry>
        <box size="0.05 0.05 0.05"/>
      </geometry>
    </collision>
    <inertial>
      <mass value="0.1"/>
      <origin rpy=" 0 0 0" xyz="0 0 0"/>
      <inertia ixx="1e-6" ixy="0" ixz="0" iyy="1e-6" iyz="0" izz="1e-6"/>
    </inertial>
  </link>
  <joint name="ark_cam_mini_bracket_front_joint" type="fixed">
    <origin rpy="0 0 0" xyz="-0.02 0 -0.05"/>
    <parent link="front_top_mount"/>
    <child link="ark_cam_mini_bracket_front"/>
  </joint>
  <!-- Rear top mount -->
  <link name="rear_top_mount">
    <visual name="rear_top_mount_visual">
      <origin rpy=" 0 0 0" xyz="0 0 0"/>
      <geometry>
        <box size="0.1 0.1 0.005"/>
      </geometry>
    </visual>
    <collision name="rear_top_mount_collision">
      <origin rpy=" 0 0 0" xyz="0 0 0"/>
      <geometry>
        <box size="0.1 0.1 0.005"/>
      </geometry>
    </collision>
    <inertial>
      <mass value="0.1"/>
      <origin rpy=" 0 0 0" xyz="0 0 0"/>
      <inertia ixx="1e-6" ixy="0" ixz="0" iyy="1e-6" iyz="0" izz="1e-6"/>
    </inertial>
  </link>
  <joint name="rear_top_mount_joint" type="fixed">
    <origin rpy="0.0 0.74 3.141592" xyz="-0.7 0 0.1"/>
    <parent link="roof_base"/>
    <child link="rear_top_mount"/>
  </joint>
  <!-- Ark cam mini bracket -->
  <link name="ark_cam_mini_bracket_rear">
    <visual name="ark_cam_mini_bracket_rear_visual">
      <origin rpy="1.57079 0 1.57079" xyz="0 0 0"/>
      <geometry>
        <mesh filename="package://sensor_description/models/arkvision_arkcam_mini/meshes/ark_cam_basic_bracket_red.dae" scale="0.001 0.001 0.001"/>
      </geometry>
    </visual>
    <collision name="ark_cam_mini_bracket_rear_collision">
      <origin rpy=" 0 0 0" xyz="0 0 0"/>
      <geometry>
        <box size="0.05 0.05 0.05"/>
      </geometry>
    </collision>
    <inertial>
      <mass value="0.1"/>
      <origin rpy=" 0 0 0" xyz="0 0 0"/>
      <inertia ixx="1e-6" ixy="0" ixz="0" iyy="1e-6" iyz="0" izz="1e-6"/>
    </inertial>
  </link>
  <joint name="ark_cam_mini_bracket_rear_joint" type="fixed">
    <origin rpy="0 0 0" xyz="-0.02 0 -0.05"/>
    <parent link="rear_top_mount"/>
    <child link="ark_cam_mini_bracket_rear"/>
  </joint>
  <!-- Sensor coordinate frame pointing opposite direction of connector at the bottom of the sensor -->
  <link name="nominal_tractor_lidar_front">
    <inertial>
      <mass value="0.00002"/>
      <origin xyz="0 0 0.03585"/>
      <inertia ixx="2.1880950000000003e-08" ixy="0" ixz="0" iyy="2.1880950000000003e-08" iyz="0" izz="2.66256e-08"/>
    </inertial>
    <visual>
      <origin rpy="1.5708 0 -1.5708" xyz="0 0 0"/>
      <geometry>
        <mesh filename="file://[local-path]/ws/common_ws/install/sensor_description/share/sensor_description/models/ouster_OS0-128/meshes/OS0.dae"/>
      </geometry>
    </visual>
    <collision>
      <origin rpy="0 0 0" xyz="0 0 0.03585"/>
      <geometry>
        <cylinder length="0.0717" radius="0.0516"/>
      </geometry>
    </collision>
  </link>
  <joint name="nominal_tractor_lidar_front_joint" type="fixed">
    <origin rpy="0 0 3.141592653589793" xyz="0 0 0.0025"/>
    <parent link="front_top_mount"/>
    <child link="nominal_tractor_lidar_front"/>
  </joint>
  <link name="tractor_lidar_front/laser"/>
  <joint name="tractor_lidar_front_laser" type="fixed">
    <origin rpy="0.0 0.0 3.14" xyz="0 0 36.180e-3"/>
    <parent link="tractor_lidar_front"/>
    <child link="tractor_lidar_front/laser"/>
  </joint>
  <link name="tractor_lidar_front/imu"/>
  <joint name="tractor_lidar_front_imu" type="fixed">
    <origin rpy="0.0 0.0 0.0" xyz="6.253e-3 -11.775e-3 7.645e-3"/>
    <parent link="tractor_lidar_front"/>
    <child link="tractor_lidar_front/imu"/>
  </joint>
  <link name="tractor_lidar_front">
    <inertial>
      <mass value="0.0005"/>
      <origin rpy=" 0 0 0" xyz="0 0 0"/>
      <inertia ixx="0.001" ixy="0" ixz="0" iyy="0.001" iyz="0" izz="0.001"/>
    </inertial>
  </link>
  <joint name="nominal_tractor_lidar_front_tractor_lidar_front_joint" type="fixed">
    <parent link="nominal_tractor_lidar_front"/>
    <child link="tractor_lidar_front"/>
    <origin rpy="-0.03 0 0" xyz="0 0 0"/>
  </joint>
  <!-- Gazebo requires the velodyne_gazebo_plugins package -->
  <gazebo reference="tractor_lidar_front/laser">
    <sensor name="tractor_lidar_front-OS0128" type="ray">
      <pose>0 0 0 0 0 0</pose>
      <visualize>false</visualize>
      <update_rate>10</update_rate>
      <ray>
        <scan>
          <horizontal>
            <samples>512</samples>
            <resolution>1</resolution>
            <min_angle>-3.141592653589793</min_angle>
            <max_angle>3.141592653589793</max_angle>
          </horizontal>
          <vertical>
            <samples>32</samples>
            <resolution>1</resolution>
            <min_angle>-0.7853981633974483</min_angle>
            <max_angle> 0.7853981633974483</max_angle>
          </vertical>
        </scan>
        <range>
          <min>0.3</min>
          <max>51.0</max>
          <resolution>0.001</resolution>
        </range>
        <noise>
          <type>gaussian</type>
          <mean>0.0</mean>
          <stddev>0.0</stddev>
        </noise>
      </ray>
      <plugin filename="libgazebo_ros_velodyne_laser.so" name="front">
        <ros>
          <namespace>/tractor/lidar</namespace>
          <remapping>~/out:=/tractor/lidar/front/points</remapping>
        </ros>
        <tf_prefix>tractor</tf_prefix>
        <frame_name>tractor_lidar_front/laser</frame_name>
        <organize_cloud>False</organize_cloud>
        <min_range>0.1</min_range>
        <max_range>50.0</max_range>
        <gaussian_noise>0.008</gaussian_noise>
      </plugin>
    </sensor>
  </gazebo>
  <gazebo reference="tractor_lidar_front/imu">
    <sensor name="imu" type="imu">
      <always_on>true</always_on>
      <update_rate>100</update_rate>
      <imu>
        <angular_velocity>
          <x>
            <noise type="gaussian">
              <mean>0.0</mean>
              <stddev>2e-4</stddev>
            </noise>
          </x>
          <y>
            <noise type="gaussian">
              <mean>0.0</mean>
              <stddev>2e-4</stddev>
            </noise>
          </y>
          <z>
            <noise type="gaussian">
              <mean>0.0</mean>
              <stddev>2e-4</stddev>
            </noise>
          </z>
        </angular_velocity>
        <linear_acceleration>
          <x>
            <noise type="gaussian">
              <mean>0.0</mean>
              <stddev>1.7e-2</stddev>
            </noise>
          </x>
          <y>
            <noise type="gaussian">
              <mean>0.0</mean>
              <stddev>1.7e-2</stddev>
            </noise>
          </y>
          <z>
            <noise type="gaussian">
              <mean>0.0</mean>
              <stddev>1.7e-2</stddev>
            </noise>
          </z>
        </linear_acceleration>
      </imu>
      <plugin filename="libgazebo_ros_imu_sensor.so" name="front">
        <ros>
          <namespace>/tractor/lidar/imu</namespace>
          <remapping>~/out:=/tractor/lidar/front/imu</remapping>
        </ros>
        <initial_orientation_as_reference>false</initial_orientation_as_reference>
        <frame_name>tractor_lidar_front/imu</frame_name>
      </plugin>
    </sensor>
  </gazebo>
  <!-- Sensor coordinate frame pointing opposite direction of connector at the bottom of the sensor -->
  <link name="nominal_tractor_lidar_rear">
    <inertial>
      <mass value="0.00002"/>
      <origin xyz="0 0 0.03585"/>
      <inertia ixx="2.1880950000000003e-08" ixy="0" ixz="0" iyy="2.1880950000000003e-08" iyz="0" izz="2.66256e-08"/>
    </inertial>
    <visual>
      <origin rpy="1.5708 0 -1.5708" xyz="0 0 0"/>
      <geometry>
        <mesh filename="file://[local-path]/ws/common_ws/install/sensor_description/share/sensor_description/models/ouster_OS0-128/meshes/OS0.dae"/>
      </geometry>
    </visual>
    <collision>
      <origin rpy="0 0 0" xyz="0 0 0.03585"/>
      <geometry>
        <cylinder length="0.0717" radius="0.0516"/>
      </geometry>
    </collision>
  </link>
  <joint name="nominal_tractor_lidar_rear_joint" type="fixed">
    <origin rpy="0 0 3.141592653589793" xyz="0 0 0.0025"/>
    <parent link="rear_top_mount"/>
    <child link="nominal_tractor_lidar_rear"/>
  </joint>
  <link name="tractor_lidar_rear/laser"/>
  <joint name="tractor_lidar_rear_laser" type="fixed">
    <origin rpy="0.0 0.0 3.14" xyz="0 0 36.180e-3"/>
    <parent link="tractor_lidar_rear"/>
    <child link="tractor_lidar_rear/laser"/>
  </joint>
  <link name="tractor_lidar_rear/imu"/>
  <joint name="tractor_lidar_rear_imu" type="fixed">
    <origin rpy="0.0 0.0 0.0" xyz="6.253e-3 -11.775e-3 7.645e-3"/>
    <parent link="tractor_lidar_rear"/>
    <child link="tractor_lidar_rear/imu"/>
  </joint>
  <link name="tractor_lidar_rear">
    <inertial>
      <mass value="0.0005"/>
      <origin rpy=" 0 0 0" xyz="0 0 0"/>
      <inertia ixx="0.001" ixy="0" ixz="0" iyy="0.001" iyz="0" izz="0.001"/>
    </inertial>
  </link>
  <joint name="nominal_tractor_lidar_rear_tractor_lidar_rear_joint" type="fixed">
    <parent link="nominal_tractor_lidar_rear"/>
    <child link="tractor_lidar_rear"/>
    <origin rpy="0 0.03 0" xyz="0 0 0"/>
  </joint>
  <!-- Gazebo requires the velodyne_gazebo_plugins package -->
  <gazebo reference="tractor_lidar_rear/laser">
    <sensor name="tractor_lidar_rear-OS0128" type="ray">
      <pose>0 0 0 0 0 0</pose>
      <visualize>false</visualize>
      <update_rate>10</update_rate>
      <ray>
        <scan>
          <horizontal>
            <samples>512</samples>
            <resolution>1</resolution>
            <min_angle>-3.141592653589793</min_angle>
            <max_angle>3.141592653589793</max_angle>
          </horizontal>
          <vertical>
            <samples>32</samples>
            <resolution>1</resolution>
            <min_angle>-0.7853981633974483</min_angle>
            <max_angle> 0.7853981633974483</max_angle>
          </vertical>
        </scan>
        <range>
          <min>0.3</min>
          <max>51.0</max>
          <resolution>0.001</resolution>
        </range>
        <noise>
          <type>gaussian</type>
          <mean>0.0</mean>
          <stddev>0.0</stddev>
        </noise>
      </ray>
      <plugin filename="libgazebo_ros_velodyne_laser.so" name="rear">
        <ros>
          <namespace>/tractor/lidar</namespace>
          <remapping>~/out:=/tractor/lidar/rear/points</remapping>
        </ros>
        <tf_prefix>tractor</tf_prefix>
        <frame_name>tractor_lidar_rear/laser</frame_name>
        <organize_cloud>False</organize_cloud>
        <min_range>0.1</min_range>
        <max_range>50.0</max_range>
        <gaussian_noise>0.008</gaussian_noise>
      </plugin>
    </sensor>
  </gazebo>
  <gazebo reference="tractor_lidar_rear/imu">
    <sensor name="imu" type="imu">
      <always_on>true</always_on>
      <update_rate>100</update_rate>
      <imu>
        <angular_velocity>
          <x>
            <noise type="gaussian">
              <mean>0.0</mean>
              <stddev>2e-4</stddev>
            </noise>
          </x>
          <y>
            <noise type="gaussian">
              <mean>0.0</mean>
              <stddev>2e-4</stddev>
            </noise>
          </y>
          <z>
            <noise type="gaussian">
              <mean>0.0</mean>
              <stddev>2e-4</stddev>
            </noise>
          </z>
        </angular_velocity>
        <linear_acceleration>
          <x>
            <noise type="gaussian">
              <mean>0.0</mean>
              <stddev>1.7e-2</stddev>
            </noise>
          </x>
          <y>
            <noise type="gaussian">
              <mean>0.0</mean>
              <stddev>1.7e-2</stddev>
            </noise>
          </y>
          <z>
            <noise type="gaussian">
              <mean>0.0</mean>
              <stddev>1.7e-2</stddev>
            </noise>
          </z>
        </linear_acceleration>
      </imu>
      <plugin filename="libgazebo_ros_imu_sensor.so" name="rear">
        <ros>
          <namespace>/tractor/lidar/imu</namespace>
          <remapping>~/out:=/tractor/lidar/rear/imu</remapping>
        </ros>
        <initial_orientation_as_reference>false</initial_orientation_as_reference>
        <frame_name>tractor_lidar_rear/imu</frame_name>
      </plugin>
    </sensor>
  </gazebo>
  <link name="nominal_tractor_camera_mount_front">
    <inertial>
      <mass value="0.0005"/>
      <origin rpy=" 0 0 0" xyz="0 0 0"/>
      <inertia ixx="0.001" ixy="0" ixz="0" iyy="0.001" iyz="0" izz="0.001"/>
    </inertial>
    <collision name="nominal_tractor_camera_mount_front_collision">
      <origin rpy=" 0 0 0" xyz="0 0 0"/>
      <geometry>
        <!-- <mesh filename="package://sensor_description/models/arkvision_arkcam_mini/meshes/ark_cam_basic_red.dae" scale="0.001 0.001 0.001" /> -->
        <box size="0.05 0.05 0.05"/>
      </geometry>
    </collision>
    <visual>
      <origin rpy="0 0 0" xyz="0 0 0"/>
      <geometry>
        <!-- <mesh filename="file://$(find sensor_description)/models/arkvision_arkcam_mini/meshes/ark_cam_basic_red.dae" scale="0.001 0.001 0.001" /> -->
        <box size="0.05 0.05 0.05"/>
      </geometry>
    </visual>
  </link>
  <joint name="nominal_tractor_camera_mount_front_joint" type="fixed">
    <origin rpy="0 0 0" xyz="0.042 0 0"/>
    <parent link="ark_cam_mini_bracket_front"/>
    <child link="nominal_tractor_camera_mount_front"/>
  </joint>
  <link name="nominal_tractor_camera_front">
    <inertial>
      <mass value="0.0005"/>
      <origin rpy=" 0 0 0" xyz="0 0 0"/>
      <inertia ixx="0.001" ixy="0" ixz="0" iyy="0.001" iyz="0" izz="0.001"/>
    </inertial>
  </link>
  <joint name="nominal_tractor_camera_front_joint" type="fixed">
    <origin rpy="0 0 0" xyz="0.015 0 0"/>
    <parent link="nominal_tractor_camera_mount_front"/>
    <child link="nominal_tractor_camera_front"/>
  </joint>
  <link name="nominal_tractor_camera_front_optical_frame">
    <inertial>
      <mass value="0.0005"/>
      <origin rpy=" 0 0 0" xyz="0 0 0"/>
      <inertia ixx="0.001" ixy="0" ixz="0" iyy="0.001" iyz="0" izz="0.001"/>
    </inertial>
  </link>
  <joint name="nominal_tractor_camera_front_optical_joint" type="fixed">
    <origin rpy="0 0 0" xyz="0 0 0"/>
    <parent link="nominal_tractor_camera_front"/>
    <child link="nominal_tractor_camera_front_optical_frame"/>
  </joint>
  <link name="tractor_camera_front_optical_frame">
    <inertial>
      <mass value="0.0005"/>
      <origin rpy=" 0 0 0" xyz="0 0 0"/>
      <inertia ixx="0.001" ixy="0" ixz="0" iyy="0.001" iyz="0" izz="0.001"/>
    </inertial>
  </link>
  <joint name="nominal_tractor_camera_front_optical_frame_tractor_camera_front_optical_frame_joint" type="fixed">
    <parent link="nominal_tractor_camera_front_optical_frame"/>
    <child link="tractor_camera_front_optical_frame"/>
    <origin rpy="0 0 0" xyz="0 0 0"/>
  </joint>
  <!-- camera plugin-->
  <gazebo reference="tractor_camera_front_optical_frame">
    <sensor name="tractor_camera_front" type="wideanglecamera">
      <update_rate>5.0</update_rate>
      <camera name="head_front">
        <horizontal_fov>3.0</horizontal_fov>
        <image>
          <width>640</width>
          <height>480</height>
          <format>R8G8B8</format>
        </image>
        <clip>
          <near>0.02</near>
          <far>300</far>
        </clip>
        <lens>
          <!-- type element is mandatory -->
          <type>custom</type>
          <!-- manually defined mapping function r = c1*f*fun(theta/c2 + c3) -->
          <!-- More information here https://en.wikipedia.org/wiki/Fisheye_lens#Mapping_function -->
          <custom_function>
            <c1>1.05</c1>
            <!-- linear scaling -->
            <c2>4</c2>
            <!-- angle scaling -->
            <f>1.0</f>
            <!-- one more scaling parameter -->
            <fun>tan</fun>
            <!-- one of sin,tan,id -->
          </custom_function>
          <!-- if it is set to `true` your horizontal FOV will ramain as defined -->
          <!-- othervise it depends on lens type and custom function, if there is one -->
          <scale_to_hfov>true</scale_to_hfov>
          <!-- clip everything that is outside of this angle -->
          <cutoff_angle>3.0</cutoff_angle>
          <!-- resolution of the cubemap texture, the highter it is - the sharper is your image -->
          <env_texture_size>512</env_texture_size>
        </lens>
      </camera>
      <plugin filename="libgazebo_ros_camera.so" name="front">
        <ros>
          <namespace>tractor/camera</namespace>
        </ros>
        <alwaysOn>true</alwaysOn>
        <updateRate>5.0</updateRate>
        <camera_name>front</camera_name>
        <imageTopicName>rgb/image_raw</imageTopicName>
        <cameraInfoTopicName>rgb/camera_info</cameraInfoTopicName>
        <frameName>tractor_camera_front_optical_frame</frameName>
        <hackBaseline>0.07</hackBaseline>
        <!--distortionK1>0.0</distortionK1>
                                        <distortionK2>0.0</distortionK2>
                                        <distortionK3>0.0</distortionK3>
                                        <distortionT1>0.0</distortionT1>
                                        <distortionT2>0.0</distortionT2-->
      </plugin>
    </sensor>
  </gazebo>
  <link name="nominal_tractor_camera_bracket_middle_right">
    <inertial>
      <mass value="0.0005"/>
      <origin rpy=" 0 0 0" xyz="0 0 0"/>
      <inertia ixx="0.001" ixy="0" ixz="0" iyy="0.001" iyz="0" izz="0.001"/>
    </inertial>
    <collision name="nominal_tractor_camera_bracket_middle_right_collision">
      <origin rpy=" 0 0 0" xyz="0 0 0"/>
      <geometry>
        <box size="0.05 0.05 0.05"/>
      </geometry>
    </collision>
    <visual>
      <origin rpy="1.57079 0 1.57079" xyz="0 0 0"/>
      <geometry>
        <!-- <mesh filename="$(find sensor_description)/models/arkvision_arkcam_mini/meshes/ark_cam_basic_bracket_red.dae" scale="0.001 0.001 0.001" /> -->
        <box size="0.05 0.05 0.05"/>
      </geometry>
    </visual>
  </link>
  <joint name="nominal_tractor_camera_bracket_middle_right_joint" type="fixed">
    <origin rpy="0 0 -1.5708" xyz="0.31 -0.85 0.0"/>
    <parent link="roof_base"/>
    <child link="nominal_tractor_camera_bracket_middle_right"/>
  </joint>
  <link name="nominal_tractor_camera_mount_middle_right">
    <inertial>
      <mass value="0.0005"/>
      <origin rpy=" 0 0 0" xyz="0 0 0"/>
      <inertia ixx="0.001" ixy="0" ixz="0" iyy="0.001" iyz="0" izz="0.001"/>
    </inertial>
    <collision name="nominal_tractor_camera_mount_middle_right_collision">
      <origin rpy=" 0 0 0" xyz="0 0 0"/>
      <geometry>
        <!-- <mesh filename="package://sensor_description/models/arkvision_arkcam_mini/meshes/ark_cam_basic_red.dae" scale="0.001 0.001 0.001" /> -->
        <box size="0.05 0.05 0.05"/>
      </geometry>
    </collision>
    <visual>
      <origin rpy="0 0 0" xyz="0 0 0"/>
      <geometry>
        <!-- <mesh filename="file://$(find sensor_description)/models/arkvision_arkcam_mini/meshes/ark_cam_basic_red.dae" scale="0.001 0.001 0.001" /> -->
        <box size="0.05 0.05 0.05"/>
      </geometry>
    </visual>
  </link>
  <joint name="nominal_tractor_camera_mount_middle_right_joint" type="fixed">
    <origin rpy="0 0.7 0" xyz="0.042 0 0"/>
    <parent link="nominal_tractor_camera_bracket_middle_right"/>
    <child link="nominal_tractor_camera_mount_middle_right"/>
  </joint>
  <link name="nominal_tractor_camera_middle_right">
    <inertial>
      <mass value="0.0005"/>
      <origin rpy=" 0 0 0" xyz="0 0 0"/>
      <inertia ixx="0.001" ixy="0" ixz="0" iyy="0.001" iyz="0" izz="0.001"/>
    </inertial>
  </link>
  <joint name="nominal_tractor_camera_middle_right_joint" type="fixed">
    <origin rpy="0 0 0" xyz="0.015 0 0"/>
    <parent link="nominal_tractor_camera_mount_middle_right"/>
    <child link="nominal_tractor_camera_middle_right"/>
  </joint>
  <link name="nominal_tractor_camera_middle_right_optical_frame">
    <inertial>
      <mass value="0.0005"/>
      <origin rpy=" 0 0 0" xyz="0 0 0"/>
      <inertia ixx="0.001" ixy="0" ixz="0" iyy="0.001" iyz="0" izz="0.001"/>
    </inertial>
  </link>
  <joint name="nominal_tractor_camera_middle_right_optical_joint" type="fixed">
    <origin rpy="0 0 0" xyz="0 0 0"/>
    <parent link="nominal_tractor_camera_middle_right"/>
    <child link="nominal_tractor_camera_middle_right_optical_frame"/>
  </joint>
  <link name="tractor_camera_middle_right_optical_frame">
    <inertial>
      <mass value="0.0005"/>
      <origin rpy=" 0 0 0" xyz="0 0 0"/>
      <inertia ixx="0.001" ixy="0" ixz="0" iyy="0.001" iyz="0" izz="0.001"/>
    </inertial>
  </link>
  <joint name="nominal_tractor_camera_middle_right_optical_frame_tractor_camera_middle_right_optical_frame_joint" type="fixed">
    <parent link="nominal_tractor_camera_middle_right_optical_frame"/>
    <child link="tractor_camera_middle_right_optical_frame"/>
    <origin rpy="0 0 0" xyz="0 0 0"/>
  </joint>
  <!-- camera plugin-->
  <gazebo reference="">
    <sensor name="tractor_camera_middle_right" type="wideanglecamera">
      <update_rate>5.0</update_rate>
      <camera name="head_middle_right">
        <horizontal_fov>3.0</horizontal_fov>
        <image>
          <width>640</width>
          <height>480</height>
          <format>R8G8B8</format>
        </image>
        <clip>
          <near>0.02</near>
          <far>300</far>
        </clip>
        <lens>
          <!-- type element is mandatory -->
          <type>custom</type>
          <!-- manually defined mapping function r = c1*f*fun(theta/c2 + c3) -->
          <!-- More information here https://en.wikipedia.org/wiki/Fisheye_lens#Mapping_function -->
          <custom_function>
            <c1>1.05</c1>
            <!-- linear scaling -->
            <c2>4</c2>
            <!-- angle scaling -->
            <f>1.0</f>
            <!-- one more scaling parameter -->
            <fun>tan</fun>
            <!-- one of sin,tan,id -->
          </custom_function>
          <!-- if it is set to `true` your horizontal FOV will ramain as defined -->
          <!-- othervise it depends on lens type and custom function, if there is one -->
          <scale_to_hfov>true</scale_to_hfov>
          <!-- clip everything that is outside of this angle -->
          <cutoff_angle>3.0</cutoff_angle>
          <!-- resolution of the cubemap texture, the highter it is - the sharper is your image -->
          <env_texture_size>512</env_texture_size>
        </lens>
      </camera>
      <plugin filename="libgazebo_ros_camera.so" name="middle_right">
        <ros>
          <namespace>tractor/camera</namespace>
        </ros>
        <alwaysOn>true</alwaysOn>
        <updateRate>5.0</updateRate>
        <camera_name>middle_right</camera_name>
        <imageTopicName>rgb/image_raw</imageTopicName>
        <cameraInfoTopicName>rgb/camera_info</cameraInfoTopicName>
        <frameName></frameName>
        <hackBaseline>0.07</hackBaseline>
        <!--distortionK1>0.0</distortionK1>
                                        <distortionK2>0.0</distortionK2>
                                        <distortionK3>0.0</distortionK3>
                                        <distortionT1>0.0</distortionT1>
                                        <distortionT2>0.0</distortionT2-->
      </plugin>
    </sensor>
  </gazebo>
  <!-- camera plugin-->
  <gazebo reference="tractor_camera_middle_right_optical_frame">
    <sensor name="tractor_camera_middle_right" type="wideanglecamera">
      <update_rate>5.0</update_rate>
      <camera name="head_middle_right">
        <horizontal_fov>3.0</horizontal_fov>
        <image>
          <width>640</width>
          <height>480</height>
          <format>R8G8B8</format>
        </image>
        <clip>
          <near>0.02</near>
          <far>300</far>
        </clip>
        <lens>
          <!-- type element is mandatory -->
          <type>custom</type>
          <!-- manually defined mapping function r = c1*f*fun(theta/c2 + c3) -->
          <!-- More information here https://en.wikipedia.org/wiki/Fisheye_lens#Mapping_function -->
          <custom_function>
            <c1>1.05</c1>
            <!-- linear scaling -->
            <c2>4</c2>
            <!-- angle scaling -->
            <f>1.0</f>
            <!-- one more scaling parameter -->
            <fun>tan</fun>
            <!-- one of sin,tan,id -->
          </custom_function>
          <!-- if it is set to `true` your horizontal FOV will ramain as defined -->
          <!-- othervise it depends on lens type and custom function, if there is one -->
          <scale_to_hfov>true</scale_to_hfov>
          <!-- clip everything that is outside of this angle -->
          <cutoff_angle>3.0</cutoff_angle>
          <!-- resolution of the cubemap texture, the highter it is - the sharper is your image -->
          <env_texture_size>512</env_texture_size>
        </lens>
      </camera>
      <plugin filename="libgazebo_ros_camera.so" name="middle_right">
        <ros>
          <namespace>tractor/camera</namespace>
        </ros>
        <alwaysOn>true</alwaysOn>
        <updateRate>5.0</updateRate>
        <camera_name>middle_right</camera_name>
        <imageTopicName>rgb/image_raw</imageTopicName>
        <cameraInfoTopicName>rgb/camera_info</cameraInfoTopicName>
        <frameName>tractor_camera_middle_right_optical_frame</frameName>
        <hackBaseline>0.07</hackBaseline>
        <!--distortionK1>0.0</distortionK1>
                                        <distortionK2>0.0</distortionK2>
                                        <distortionK3>0.0</distortionK3>
                                        <distortionT1>0.0</distortionT1>
                                        <distortionT2>0.0</distortionT2-->
      </plugin>
    </sensor>
  </gazebo>
  <link name="nominal_tractor_camera_bracket_middle_left">
    <inertial>
      <mass value="0.0005"/>
      <origin rpy=" 0 0 0" xyz="0 0 0"/>
      <inertia ixx="0.001" ixy="0" ixz="0" iyy="0.001" iyz="0" izz="0.001"/>
    </inertial>
    <collision name="nominal_tractor_camera_bracket_middle_left_collision">
      <origin rpy=" 0 0 0" xyz="0 0 0"/>
      <geometry>
        <box size="0.05 0.05 0.05"/>
      </geometry>
    </collision>
    <visual>
      <origin rpy="1.57079 0 1.57079" xyz="0 0 0"/>
      <geometry>
        <!-- <mesh filename="$(find sensor_description)/models/arkvision_arkcam_mini/meshes/ark_cam_basic_bracket_red.dae" scale="0.001 0.001 0.001" /> -->
        <box size="0.05 0.05 0.05"/>
      </geometry>
    </visual>
  </link>
  <joint name="nominal_tractor_camera_bracket_middle_left_joint" type="fixed">
    <origin rpy="0 0 1.5708" xyz="0.31 0.85 0.0"/>
    <parent link="roof_base"/>
    <child link="nominal_tractor_camera_bracket_middle_left"/>
  </joint>
  <link name="nominal_tractor_camera_mount_middle_left">
    <inertial>
      <mass value="0.0005"/>
      <origin rpy=" 0 0 0" xyz="0 0 0"/>
      <inertia ixx="0.001" ixy="0" ixz="0" iyy="0.001" iyz="0" izz="0.001"/>
    </inertial>
    <collision name="nominal_tractor_camera_mount_middle_left_collision">
      <origin rpy=" 0 0 0" xyz="0 0 0"/>
      <geometry>
        <!-- <mesh filename="package://sensor_description/models/arkvision_arkcam_mini/meshes/ark_cam_basic_red.dae" scale="0.001 0.001 0.001" /> -->
        <box size="0.05 0.05 0.05"/>
      </geometry>
    </collision>
    <visual>
      <origin rpy="0 0 0" xyz="0 0 0"/>
      <geometry>
        <!-- <mesh filename="file://$(find sensor_description)/models/arkvision_arkcam_mini/meshes/ark_cam_basic_red.dae" scale="0.001 0.001 0.001" /> -->
        <box size="0.05 0.05 0.05"/>
      </geometry>
    </visual>
  </link>
  <joint name="nominal_tractor_camera_mount_middle_left_joint" type="fixed">
    <origin rpy="0 0.7 0" xyz="0.042 0 0"/>
    <parent link="nominal_tractor_camera_bracket_middle_left"/>
    <child link="nominal_tractor_camera_mount_middle_left"/>
  </joint>
  <link name="nominal_tractor_camera_middle_left">
    <inertial>
      <mass value="0.0005"/>
      <origin rpy=" 0 0 0" xyz="0 0 0"/>
      <inertia ixx="0.001" ixy="0" ixz="0" iyy="0.001" iyz="0" izz="0.001"/>
    </inertial>
  </link>
  <joint name="nominal_tractor_camera_middle_left_joint" type="fixed">
    <origin rpy="0 0 0" xyz="0.015 0 0"/>
    <parent link="nominal_tractor_camera_mount_middle_left"/>
    <child link="nominal_tractor_camera_middle_left"/>
  </joint>
  <link name="nominal_tractor_camera_middle_left_optical_frame">
    <inertial>
      <mass value="0.0005"/>
      <origin rpy=" 0 0 0" xyz="0 0 0"/>
      <inertia ixx="0.001" ixy="0" ixz="0" iyy="0.001" iyz="0" izz="0.001"/>
    </inertial>
  </link>
  <joint name="nominal_tractor_camera_middle_left_optical_joint" type="fixed">
    <origin rpy="0 0 0" xyz="0 0 0"/>
    <parent link="nominal_tractor_camera_middle_left"/>
    <child link="nominal_tractor_camera_middle_left_optical_frame"/>
  </joint>
  <link name="tractor_camera_middle_left_optical_frame">
    <inertial>
      <mass value="0.0005"/>
      <origin rpy=" 0 0 0" xyz="0 0 0"/>
      <inertia ixx="0.001" ixy="0" ixz="0" iyy="0.001" iyz="0" izz="0.001"/>
    </inertial>
  </link>
  <joint name="nominal_tractor_camera_middle_left_optical_frame_tractor_camera_middle_left_optical_frame_joint" type="fixed">
    <parent link="nominal_tractor_camera_middle_left_optical_frame"/>
    <child link="tractor_camera_middle_left_optical_frame"/>
    <origin rpy="0 0 0" xyz="0 0 0"/>
  </joint>
  <!-- camera plugin-->
  <gazebo reference="tractor_camera_middle_left_optical_frame">
    <sensor name="tractor_camera_middle_left" type="wideanglecamera">
      <update_rate>5.0</update_rate>
      <camera name="head_middle_left">
        <horizontal_fov>3.0</horizontal_fov>
        <image>
          <width>640</width>
          <height>480</height>
          <format>R8G8B8</format>
        </image>
        <clip>
          <near>0.02</near>
          <far>300</far>
        </clip>
        <lens>
          <!-- type element is mandatory -->
          <type>custom</type>
          <!-- manually defined mapping function r = c1*f*fun(theta/c2 + c3) -->
          <!-- More information here https://en.wikipedia.org/wiki/Fisheye_lens#Mapping_function -->
          <custom_function>
            <c1>1.05</c1>
            <!-- linear scaling -->
            <c2>4</c2>
            <!-- angle scaling -->
            <f>1.0</f>
            <!-- one more scaling parameter -->
            <fun>tan</fun>
            <!-- one of sin,tan,id -->
          </custom_function>
          <!-- if it is set to `true` your horizontal FOV will ramain as defined -->
          <!-- othervise it depends on lens type and custom function, if there is one -->
          <scale_to_hfov>true</scale_to_hfov>
          <!-- clip everything that is outside of this angle -->
          <cutoff_angle>3.0</cutoff_angle>
          <!-- resolution of the cubemap texture, the highter it is - the sharper is your image -->
          <env_texture_size>512</env_texture_size>
        </lens>
      </camera>
      <plugin filename="libgazebo_ros_camera.so" name="middle_left">
        <ros>
          <namespace>tractor/camera</namespace>
        </ros>
        <alwaysOn>true</alwaysOn>
        <updateRate>5.0</updateRate>
        <camera_name>middle_left</camera_name>
        <imageTopicName>rgb/image_raw</imageTopicName>
        <cameraInfoTopicName>rgb/camera_info</cameraInfoTopicName>
        <frameName>tractor_camera_middle_left_optical_frame</frameName>
        <hackBaseline>0.07</hackBaseline>
        <!--distortionK1>0.0</distortionK1>
                                        <distortionK2>0.0</distortionK2>
                                        <distortionK3>0.0</distortionK3>
                                        <distortionT1>0.0</distortionT1>
                                        <distortionT2>0.0</distortionT2-->
      </plugin>
    </sensor>
  </gazebo>
  <link name="nominal_tractor_camera_mount_rear">
    <inertial>
      <mass value="0.0005"/>
      <origin rpy=" 0 0 0" xyz="0 0 0"/>
      <inertia ixx="0.001" ixy="0" ixz="0" iyy="0.001" iyz="0" izz="0.001"/>
    </inertial>
    <collision name="nominal_tractor_camera_mount_rear_collision">
      <origin rpy=" 0 0 0" xyz="0 0 0"/>
      <geometry>
        <!-- <mesh filename="package://sensor_description/models/arkvision_arkcam_mini/meshes/ark_cam_basic_red.dae" scale="0.001 0.001 0.001" /> -->
        <box size="0.05 0.05 0.05"/>
      </geometry>
    </collision>
    <visual>
      <origin rpy="0 0 0" xyz="0 0 0"/>
      <geometry>
        <!-- <mesh filename="file://$(find sensor_description)/models/arkvision_arkcam_mini/meshes/ark_cam_basic_red.dae" scale="0.001 0.001 0.001" /> -->
        <box size="0.05 0.05 0.05"/>
      </geometry>
    </visual>
  </link>
  <joint name="nominal_tractor_camera_mount_rear_joint" type="fixed">
    <origin rpy="0 0 0" xyz="0.042 0 0"/>
    <parent link="ark_cam_mini_bracket_rear"/>
    <child link="nominal_tractor_camera_mount_rear"/>
  </joint>
  <link name="nominal_tractor_camera_rear">
    <inertial>
      <mass value="0.0005"/>
      <origin rpy=" 0 0 0" xyz="0 0 0"/>
      <inertia ixx="0.001" ixy="0" ixz="0" iyy="0.001" iyz="0" izz="0.001"/>
    </inertial>
  </link>
  <joint name="nominal_tractor_camera_rear_joint" type="fixed">
    <origin rpy="0 0 0" xyz="0.015 0 0"/>
    <parent link="nominal_tractor_camera_mount_rear"/>
    <child link="nominal_tractor_camera_rear"/>
  </joint>
  <link name="nominal_tractor_camera_rear_optical_frame">
    <inertial>
      <mass value="0.0005"/>
      <origin rpy=" 0 0 0" xyz="0 0 0"/>
      <inertia ixx="0.001" ixy="0" ixz="0" iyy="0.001" iyz="0" izz="0.001"/>
    </inertial>
  </link>
  <joint name="nominal_tractor_camera_rear_optical_joint" type="fixed">
    <origin rpy="0 0 0" xyz="0 0 0"/>
    <parent link="nominal_tractor_camera_rear"/>
    <child link="nominal_tractor_camera_rear_optical_frame"/>
  </joint>
  <link name="tractor_camera_rear_optical_frame">
    <inertial>
      <mass value="0.0005"/>
      <origin rpy=" 0 0 0" xyz="0 0 0"/>
      <inertia ixx="0.001" ixy="0" ixz="0" iyy="0.001" iyz="0" izz="0.001"/>
    </inertial>
  </link>
  <joint name="nominal_tractor_camera_rear_optical_frame_tractor_camera_rear_optical_frame_joint" type="fixed">
    <parent link="nominal_tractor_camera_rear_optical_frame"/>
    <child link="tractor_camera_rear_optical_frame"/>
    <origin rpy="0 0 0" xyz="0 0 0"/>
  </joint>
  <!-- camera plugin-->
  <gazebo reference="tractor_camera_rear_optical_frame">
    <sensor name="tractor_camera_rear" type="wideanglecamera">
      <update_rate>5.0</update_rate>
      <camera name="head_rear">
        <horizontal_fov>3.0</horizontal_fov>
        <image>
          <width>640</width>
          <height>480</height>
          <format>R8G8B8</format>
        </image>
        <clip>
          <near>0.02</near>
          <far>300</far>
        </clip>
        <lens>
          <!-- type element is mandatory -->
          <type>custom</type>
          <!-- manually defined mapping function r = c1*f*fun(theta/c2 + c3) -->
          <!-- More information here https://en.wikipedia.org/wiki/Fisheye_lens#Mapping_function -->
          <custom_function>
            <c1>1.05</c1>
            <!-- linear scaling -->
            <c2>4</c2>
            <!-- angle scaling -->
            <f>1.0</f>
            <!-- one more scaling parameter -->
            <fun>tan</fun>
            <!-- one of sin,tan,id -->
          </custom_function>
          <!-- if it is set to `true` your horizontal FOV will ramain as defined -->
          <!-- othervise it depends on lens type and custom function, if there is one -->
          <scale_to_hfov>true</scale_to_hfov>
          <!-- clip everything that is outside of this angle -->
          <cutoff_angle>3.0</cutoff_angle>
          <!-- resolution of the cubemap texture, the highter it is - the sharper is your image -->
          <env_texture_size>512</env_texture_size>
        </lens>
      </camera>
      <plugin filename="libgazebo_ros_camera.so" name="rear">
        <ros>
          <namespace>tractor/camera</namespace>
        </ros>
        <alwaysOn>true</alwaysOn>
        <updateRate>5.0</updateRate>
        <camera_name>rear</camera_name>
        <imageTopicName>rgb/image_raw</imageTopicName>
        <cameraInfoTopicName>rgb/camera_info</cameraInfoTopicName>
        <frameName>tractor_camera_rear_optical_frame</frameName>
        <hackBaseline>0.07</hackBaseline>
        <!--distortionK1>0.0</distortionK1>
                                        <distortionK2>0.0</distortionK2>
                                        <distortionK3>0.0</distortionK3>
                                        <distortionT1>0.0</distortionT1>
                                        <distortionT2>0.0</distortionT2-->
      </plugin>
    </sensor>
  </gazebo>
  <!-- Radar links and joints -->
  <link name="nominal_tractor_radar_front_left">
    <inertial>
      <mass value="0.0005"/>
      <origin rpy=" 0 0 0" xyz="0 0 0"/>
      <inertia ixx="0.001" ixy="0" ixz="0" iyy="0.001" iyz="0" izz="0.001"/>
    </inertial>
    <collision name="nominal_tractor_radar_front_left_collision">
      <origin rpy=" 0 0 0" xyz="0 0 0"/>
      <geometry>
        <box size="0.02 0.1 0.1"/>
      </geometry>
    </collision>
    <visual name="nominal_tractor_radar_front_left_visual">
      <origin rpy=" 0 1.57079 -1.57079" xyz="0 -0.002 0"/>
      <geometry>
        <!--box size="0.02 0.1 0.1"/-->
        <mesh filename="file://[local-path]/ws/common_ws/install/sensor_description/share/sensor_description/models/smartmicro_type153/meshes/smartmicro_type153.dae" scale="1.0 1.0 1.0"/>
      </geometry>
    </visual>
  </link>
  <joint name="nominal_tractor_radar_front_left_joint" type="fixed">
    <origin rpy="3.141592653589793 0.17 0.79" xyz="4.7 0.2 -0.030000000000000027"/>
    <parent link="tractor_chassis"/>
    <child link="nominal_tractor_radar_front_left"/>
  </joint>
  <link name="nominal_tractor_radar_front_left_optical_frame">
    <inertial>
      <mass value="0.0005"/>
      <origin rpy=" 0 0 0" xyz="0 0 0"/>
      <inertia ixx="0.001" ixy="0" ixz="0" iyy="0.001" iyz="0" izz="0.001"/>
    </inertial>
  </link>
  <joint name="nominal_tractor_radar_front_left_optical_joint" type="fixed">
    <origin rpy="-1.57 0 -1.57" xyz="0 0 0"/>
    <parent link="nominal_tractor_radar_front_left"/>
    <child link="nominal_tractor_radar_front_left_optical_frame"/>
  </joint>
  <link name="tractor_radar_front_left">
    <inertial>
      <mass value="0.0005"/>
      <origin rpy=" 0 0 0" xyz="0 0 0"/>
      <inertia ixx="0.001" ixy="0" ixz="0" iyy="0.001" iyz="0" izz="0.001"/>
    </inertial>
  </link>
  <joint name="nominal_tractor_radar_front_right_tractor_radar_front_left_joint" type="fixed">
    <parent link="nominal_tractor_radar_front_right"/>
    <child link="tractor_radar_front_left"/>
    <origin rpy="3.14159265359 -0.3 0" xyz="0 0 -1.0"/>
  </joint>
  <!-- radar simulated by depth camera plugin -->
  <gazebo reference="nominal_tractor_radar_front_left">
    <sensor name="front_left" type="depth">
      <update_rate>20</update_rate>
      <camera>
        <horizontal_fov>2.27</horizontal_fov>
        <image>
          <width>65</width>
          <height>7</height>
          <format>R8G8B8</format>
        </image>
        <clip>
          <near>0.05</near>
          <far>1000</far>
        </clip>
      </camera>
      <plugin filename="libgazebo_ros_camera.so" name="front_left">
        <ros>
          <namespace>tractor/radar</namespace>
        </ros>
        <baseline>0.2</baseline>
        <alwaysOn>true</alwaysOn>
        <updateRate>10.0</updateRate>
        <cameraName>nominal_tractor_radar_front_left_depth</cameraName>
        <frame_name>nominal_tractor_radar_front_left_optical_frame</frame_name>
        <pointCloudCutoff>0.2</pointCloudCutoff>
        <pointCloudCutoffMax>1000.0</pointCloudCutoffMax>
        <distortionK1>0.00000001</distortionK1>
        <distortionK2>0.00000001</distortionK2>
        <distortionK3>0.00000001</distortionK3>
        <distortionT1>0.00000001</distortionT1>
        <distortionT2>0.00000001</distortionT2>
        <CxPrime>0</CxPrime>
        <Cx>0</Cx>
        <Cy>0</Cy>
        <focalLength>0</focalLength>
        <hackBaseline>0</hackBaseline>
      </plugin>
    </sensor>
  </gazebo>
  <!-- Radar links and joints -->
  <link name="nominal_tractor_radar_front_right">
    <inertial>
      <mass value="0.0005"/>
      <origin rpy=" 0 0 0" xyz="0 0 0"/>
      <inertia ixx="0.001" ixy="0" ixz="0" iyy="0.001" iyz="0" izz="0.001"/>
    </inertial>
    <collision name="nominal_tractor_radar_front_right_collision">
      <origin rpy=" 0 0 0" xyz="0 0 0"/>
      <geometry>
        <box size="0.02 0.1 0.1"/>
      </geometry>
    </collision>
    <visual name="nominal_tractor_radar_front_right_visual">
      <origin rpy=" 0 1.57079 -1.57079" xyz="0 -0.002 0"/>
      <geometry>
        <!--box size="0.02 0.1 0.1"/-->
        <mesh filename="file://[local-path]/ws/common_ws/install/sensor_description/share/sensor_description/models/smartmicro_type153/meshes/smartmicro_type153.dae" scale="1.0 1.0 1.0"/>
      </geometry>
    </visual>
  </link>
  <joint name="nominal_tractor_radar_front_right_joint" type="fixed">
    <origin rpy="0 0.17 -0.79" xyz="4.7 -0.2 -0.030000000000000027"/>
    <parent link="tractor_chassis"/>
    <child link="nominal_tractor_radar_front_right"/>
  </joint>
  <link name="nominal_tractor_radar_front_right_optical_frame">
    <inertial>
      <mass value="0.0005"/>
      <origin rpy=" 0 0 0" xyz="0 0 0"/>
      <inertia ixx="0.001" ixy="0" ixz="0" iyy="0.001" iyz="0" izz="0.001"/>
    </inertial>
  </link>
  <joint name="nominal_tractor_radar_front_right_optical_joint" type="fixed">
    <origin rpy="-1.57 0 -1.57" xyz="0 0 0"/>
    <parent link="nominal_tractor_radar_front_right"/>
    <child link="nominal_tractor_radar_front_right_optical_frame"/>
  </joint>
  <link name="tractor_radar_front_right">
    <inertial>
      <mass value="0.0005"/>
      <origin rpy=" 0 0 0" xyz="0 0 0"/>
      <inertia ixx="0.001" ixy="0" ixz="0" iyy="0.001" iyz="0" izz="0.001"/>
    </inertial>
  </link>
  <joint name="nominal_tractor_radar_front_left_tractor_radar_front_right_joint" type="fixed">
    <parent link="nominal_tractor_radar_front_left"/>
    <child link="tractor_radar_front_right"/>
    <origin rpy="3.14159265359 0.12 0" xyz="0 0 -0.2"/>
  </joint>
  <!-- radar simulated by depth camera plugin -->
  <gazebo reference="nominal_tractor_radar_front_right">
    <sensor name="front_right" type="depth">
      <update_rate>20</update_rate>
      <camera>
        <horizontal_fov>2.27</horizontal_fov>
        <image>
          <width>65</width>
          <height>7</height>
          <format>R8G8B8</format>
        </image>
        <clip>
          <near>0.05</near>
          <far>1000</far>
        </clip>
      </camera>
      <plugin filename="libgazebo_ros_camera.so" name="front_right">
        <ros>
          <namespace>tractor/radar</namespace>
        </ros>
        <baseline>0.2</baseline>
        <alwaysOn>true</alwaysOn>
        <updateRate>10.0</updateRate>
        <cameraName>nominal_tractor_radar_front_right_depth</cameraName>
        <frame_name>nominal_tractor_radar_front_right_optical_frame</frame_name>
        <pointCloudCutoff>0.2</pointCloudCutoff>
        <pointCloudCutoffMax>1000.0</pointCloudCutoffMax>
        <distortionK1>0.00000001</distortionK1>
        <distortionK2>0.00000001</distortionK2>
        <distortionK3>0.00000001</distortionK3>
        <distortionT1>0.00000001</distortionT1>
        <distortionT2>0.00000001</distortionT2>
        <CxPrime>0</CxPrime>
        <Cx>0</Cx>
        <Cy>0</Cy>
        <focalLength>0</focalLength>
        <hackBaseline>0</hackBaseline>
      </plugin>
    </sensor>
  </gazebo>
  <!-- Radar links and joints -->
  <link name="nominal_tractor_radar_middle_left">
    <inertial>
      <mass value="0.0005"/>
      <origin rpy=" 0 0 0" xyz="0 0 0"/>
      <inertia ixx="0.001" ixy="0" ixz="0" iyy="0.001" iyz="0" izz="0.001"/>
    </inertial>
    <collision name="nominal_tractor_radar_middle_left_collision">
      <origin rpy=" 0 0 0" xyz="0 0 0"/>
      <geometry>
        <box size="0.02 0.1 0.1"/>
      </geometry>
    </collision>
    <visual name="nominal_tractor_radar_middle_left_visual">
      <origin rpy=" 0 1.57079 -1.57079" xyz="0 -0.002 0"/>
      <geometry>
        <!--box size="0.02 0.1 0.1"/-->
        <mesh filename="file://[local-path]/ws/common_ws/install/sensor_description/share/sensor_description/models/smartmicro_type153/meshes/smartmicro_type153.dae" scale="1.0 1.0 1.0"/>
      </geometry>
    </visual>
  </link>
  <joint name="nominal_tractor_radar_middle_left_joint" type="fixed">
    <origin rpy="0.0 0.35 1.57079633" xyz="1.3 1.05 0.44999999999999996"/>
    <parent link="tractor_chassis"/>
    <child link="nominal_tractor_radar_middle_left"/>
  </joint>
  <link name="nominal_tractor_radar_middle_left_optical_frame">
    <inertial>
      <mass value="0.0005"/>
      <origin rpy=" 0 0 0" xyz="0 0 0"/>
      <inertia ixx="0.001" ixy="0" ixz="0" iyy="0.001" iyz="0" izz="0.001"/>
    </inertial>
  </link>
  <joint name="nominal_tractor_radar_middle_left_optical_joint" type="fixed">
    <origin rpy="-1.57 0 -1.57" xyz="0 0 0"/>
    <parent link="nominal_tractor_radar_middle_left"/>
    <child link="nominal_tractor_radar_middle_left_optical_frame"/>
  </joint>
  <link name="tractor_radar_middle_left">
    <inertial>
      <mass value="0.0005"/>
      <origin rpy=" 0 0 0" xyz="0 0 0"/>
      <inertia ixx="0.001" ixy="0" ixz="0" iyy="0.001" iyz="0" izz="0.001"/>
    </inertial>
  </link>
  <joint name="nominal_tractor_radar_middle_left_tractor_radar_middle_left_joint" type="fixed">
    <parent link="nominal_tractor_radar_middle_left"/>
    <child link="tractor_radar_middle_left"/>
    <origin rpy="0 -0.32 0" xyz="0 0 -0.2"/>
  </joint>
  <!-- radar simulated by depth camera plugin -->
  <gazebo reference="nominal_tractor_radar_middle_left">
    <sensor name="middle_left" type="depth">
      <update_rate>20</update_rate>
      <camera>
        <horizontal_fov>2.27</horizontal_fov>
        <image>
          <width>65</width>
          <height>7</height>
          <format>R8G8B8</format>
        </image>
        <clip>
          <near>0.05</near>
          <far>1000</far>
        </clip>
      </camera>
      <plugin filename="libgazebo_ros_camera.so" name="middle_left">
        <ros>
          <namespace>tractor/radar</namespace>
        </ros>
        <baseline>0.2</baseline>
        <alwaysOn>true</alwaysOn>
        <updateRate>10.0</updateRate>
        <cameraName>nominal_tractor_radar_middle_left_depth</cameraName>
        <frame_name>nominal_tractor_radar_middle_left_optical_frame</frame_name>
        <pointCloudCutoff>0.2</pointCloudCutoff>
        <pointCloudCutoffMax>1000.0</pointCloudCutoffMax>
        <distortionK1>0.00000001</distortionK1>
        <distortionK2>0.00000001</distortionK2>
        <distortionK3>0.00000001</distortionK3>
        <distortionT1>0.00000001</distortionT1>
        <distortionT2>0.00000001</distortionT2>
        <CxPrime>0</CxPrime>
        <Cx>0</Cx>
        <Cy>0</Cy>
        <focalLength>0</focalLength>
        <hackBaseline>0</hackBaseline>
      </plugin>
    </sensor>
  </gazebo>
  <!-- Radar links and joints -->
  <link name="nominal_tractor_radar_middle_right">
    <inertial>
      <mass value="0.0005"/>
      <origin rpy=" 0 0 0" xyz="0 0 0"/>
      <inertia ixx="0.001" ixy="0" ixz="0" iyy="0.001" iyz="0" izz="0.001"/>
    </inertial>
    <collision name="nominal_tractor_radar_middle_right_collision">
      <origin rpy=" 0 0 0" xyz="0 0 0"/>
      <geometry>
        <box size="0.02 0.1 0.1"/>
      </geometry>
    </collision>
    <visual name="nominal_tractor_radar_middle_right_visual">
      <origin rpy=" 0 1.57079 -1.57079" xyz="0 -0.002 0"/>
      <geometry>
        <!--box size="0.02 0.1 0.1"/-->
        <mesh filename="file://[local-path]/ws/common_ws/install/sensor_description/share/sensor_description/models/smartmicro_type153/meshes/smartmicro_type153.dae" scale="1.0 1.0 1.0"/>
      </geometry>
    </visual>
  </link>
  <joint name="nominal_tractor_radar_middle_right_joint" type="fixed">
    <origin rpy="3.141592653589793 0.35 -1.57079633" xyz="1.3 -1.05 0.44999999999999996"/>
    <parent link="tractor_chassis"/>
    <child link="nominal_tractor_radar_middle_right"/>
  </joint>
  <link name="nominal_tractor_radar_middle_right_optical_frame">
    <inertial>
      <mass value="0.0005"/>
      <origin rpy=" 0 0 0" xyz="0 0 0"/>
      <inertia ixx="0.001" ixy="0" ixz="0" iyy="0.001" iyz="0" izz="0.001"/>
    </inertial>
  </link>
  <joint name="nominal_tractor_radar_middle_right_optical_joint" type="fixed">
    <origin rpy="-1.57 0 -1.57" xyz="0 0 0"/>
    <parent link="nominal_tractor_radar_middle_right"/>
    <child link="nominal_tractor_radar_middle_right_optical_frame"/>
  </joint>
  <link name="tractor_radar_middle_right">
    <inertial>
      <mass value="0.0005"/>
      <origin rpy=" 0 0 0" xyz="0 0 0"/>
      <inertia ixx="0.001" ixy="0" ixz="0" iyy="0.001" iyz="0" izz="0.001"/>
    </inertial>
  </link>
  <joint name="nominal_tractor_radar_middle_right_tractor_radar_middle_right_joint" type="fixed">
    <parent link="nominal_tractor_radar_middle_right"/>
    <child link="tractor_radar_middle_right"/>
    <origin rpy="0 0.3 0" xyz="0 0 0.6"/>
  </joint>
  <!-- radar simulated by depth camera plugin -->
  <gazebo reference="nominal_tractor_radar_middle_right">
    <sensor name="middle_right" type="depth">
      <update_rate>20</update_rate>
      <camera>
        <horizontal_fov>2.27</horizontal_fov>
        <image>
          <width>65</width>
          <height>7</height>
          <format>R8G8B8</format>
        </image>
        <clip>
          <near>0.05</near>
          <far>1000</far>
        </clip>
      </camera>
      <plugin filename="libgazebo_ros_camera.so" name="middle_right">
        <ros>
          <namespace>tractor/radar</namespace>
        </ros>
        <baseline>0.2</baseline>
        <alwaysOn>true</alwaysOn>
        <updateRate>10.0</updateRate>
        <cameraName>nominal_tractor_radar_middle_right_depth</cameraName>
        <frame_name>nominal_tractor_radar_middle_right_optical_frame</frame_name>
        <pointCloudCutoff>0.2</pointCloudCutoff>
        <pointCloudCutoffMax>1000.0</pointCloudCutoffMax>
        <distortionK1>0.00000001</distortionK1>
        <distortionK2>0.00000001</distortionK2>
        <distortionK3>0.00000001</distortionK3>
        <distortionT1>0.00000001</distortionT1>
        <distortionT2>0.00000001</distortionT2>
        <CxPrime>0</CxPrime>
        <Cx>0</Cx>
        <Cy>0</Cy>
        <focalLength>0</focalLength>
        <hackBaseline>0</hackBaseline>
      </plugin>
    </sensor>
  </gazebo>
  <link name="tractor_gnss_right_mount">
    <inertial>
      <mass value="0.0005"/>
      <origin rpy=" 0 0 0" xyz="0 0 0"/>
      <inertia ixx="0.001" ixy="0" ixz="0" iyy="0.001" iyz="0" izz="0.001"/>
    </inertial>
    <collision>
      <origin rpy=" 0 0 0" xyz="0 0 0"/>
      <geometry>
        <cylinder length="0.05" radius="0.1"/>
      </geometry>
    </collision>
    <visual>
      <origin rpy="1.57 0 -1.57" xyz="0 0 0"/>
      <geometry>
        <mesh filename="file://[local-path]/ws/common_ws/install/sensor_description/share/sensor_description/models/novatel_smart7/meshes/smart7.stl" scale="0.001 0.001 0.001"/>
      </geometry>
    </visual>
  </link>
  <joint name="tractor_gnss_right_mount_joint" type="fixed">
    <parent link="roof_base"/>
    <child link="tractor_gnss_right_mount"/>
    <origin rpy="0 0 0" xyz="0.31 -0.835 0.1"/>
  </joint>
  <link name="tractor_gnss_right_center">
    <inertial>
      <mass value="0.0005"/>
      <origin rpy=" 0 0 0" xyz="0 0 0"/>
      <inertia ixx="0.001" ixy="0" ixz="0" iyy="0.001" iyz="0" izz="0.001"/>
    </inertial>
    <collision>
      <origin rpy=" 0 0 0" xyz="0 0 0"/>
      <geometry>
        <cylinder length="0.05" radius="0.1"/>
      </geometry>
    </collision>
  </link>
  <joint name="tractor_gnss_right_joint" type="fixed">
    <parent link="tractor_gnss_right_mount"/>
    <child link="tractor_gnss_right_center"/>
    <origin rpy=" 0 0 0" xyz="0.07 0 0.0569"/>
  </joint>
  <link name="tractor_gnss_right_imu">
    <inertial>
      <mass value="0.0005"/>
      <origin rpy=" 0 0 0" xyz="0 0 0"/>
      <inertia ixx="0.001" ixy="0" ixz="0" iyy="0.001" iyz="0" izz="0.001"/>
    </inertial>
    <collision>
      <origin rpy=" 0 0 0" xyz="0 0 0"/>
      <geometry>
        <cylinder length="0.05" radius="0.1"/>
      </geometry>
    </collision>
  </link>
  <joint name="tractor_gnss_right_imu_joint" type="fixed">
    <parent link="tractor_gnss_right_center"/>
    <child link="tractor_gnss_right_imu"/>
    <origin rpy="0.0 0 0" xyz="0.0 0 0.0"/>
  </joint>
  <gazebo reference="tractor_gnss_right_center">
    <sensor name="gnss_right_sensor" type="gps">
      <always_on>true</always_on>
      <update_rate>10.0</update_rate>
      <gps>
        <position_sensing>
          <horizontal>
            <noise type="gaussian">
              <mean>0.0</mean>
              <stddev>0.04</stddev>
            </noise>
          </horizontal>
          <vertical>
            <noise type="gaussian">
              <mean>0.0</mean>
              <stddev>0.08</stddev>
            </noise>
          </vertical>
        </position_sensing>
        <velocity_sensing>
          <horizontal>
            <noise type="gaussian">
              <mean>0.0</mean>
              <stddev>0.05</stddev>
            </noise>
          </horizontal>
          <vertical>
            <noise type="gaussian">
              <mean>0.0</mean>
              <stddev>0.1</stddev>
            </noise>
          </vertical>
        </velocity_sensing>
      </gps>
      <plugin filename="libgazebo_ros_gps_sensor.so" name="right">
        <ros>
          <namespace>/tractor/gnss</namespace>
          <remapping>~/out:=right/fix</remapping>
          <remapping>~/vel:=right/vel</remapping>
        </ros>
        <frame_name>tractor_gnss_right_center</frame_name>
      </plugin>
    </sensor>
  </gazebo>
  <link name="tractor_gnss_left_mount">
    <inertial>
      <mass value="0.0005"/>
      <origin rpy=" 0 0 0" xyz="0 0 0"/>
      <inertia ixx="0.001" ixy="0" ixz="0" iyy="0.001" iyz="0" izz="0.001"/>
    </inertial>
    <collision>
      <origin rpy=" 0 0 0" xyz="0 0 0"/>
      <geometry>
        <cylinder length="0.05" radius="0.1"/>
      </geometry>
    </collision>
    <visual>
      <origin rpy="1.57 0 -1.57" xyz="0 0 0"/>
      <geometry>
        <mesh filename="file://[local-path]/ws/common_ws/install/sensor_description/share/sensor_description/models/novatel_smart7/meshes/smart7.stl" scale="0.001 0.001 0.001"/>
      </geometry>
    </visual>
  </link>
  <joint name="tractor_gnss_left_mount_joint" type="fixed">
    <parent link="roof_base"/>
    <child link="tractor_gnss_left_mount"/>
    <origin rpy="0 0 0" xyz="0.31 0.835 0.1"/>
  </joint>
  <link name="tractor_gnss_left_center">
    <inertial>
      <mass value="0.0005"/>
      <origin rpy=" 0 0 0" xyz="0 0 0"/>
      <inertia ixx="0.001" ixy="0" ixz="0" iyy="0.001" iyz="0" izz="0.001"/>
    </inertial>
    <collision>
      <origin rpy=" 0 0 0" xyz="0 0 0"/>
      <geometry>
        <cylinder length="0.05" radius="0.1"/>
      </geometry>
    </collision>
  </link>
  <joint name="tractor_gnss_left_joint" type="fixed">
    <parent link="tractor_gnss_left_mount"/>
    <child link="tractor_gnss_left_center"/>
    <origin rpy=" 0 0 0" xyz="0.07 0 0.0569"/>
  </joint>
  <link name="tractor_gnss_left_imu">
    <inertial>
      <mass value="0.0005"/>
      <origin rpy=" 0 0 0" xyz="0 0 0"/>
      <inertia ixx="0.001" ixy="0" ixz="0" iyy="0.001" iyz="0" izz="0.001"/>
    </inertial>
    <collision>
      <origin rpy=" 0 0 0" xyz="0 0 0"/>
      <geometry>
        <cylinder length="0.05" radius="0.1"/>
      </geometry>
    </collision>
  </link>
  <joint name="tractor_gnss_left_imu_joint" type="fixed">
    <parent link="tractor_gnss_left_center"/>
    <child link="tractor_gnss_left_imu"/>
    <origin rpy="0.0 0 0" xyz="0.0 0 0.0"/>
  </joint>
  <gazebo reference="tractor_gnss_left_center">
    <sensor name="gnss_left_sensor" type="gps">
      <always_on>true</always_on>
      <update_rate>10.0</update_rate>
      <gps>
        <position_sensing>
          <horizontal>
            <noise type="gaussian">
              <mean>0.0</mean>
              <stddev>0.04</stddev>
            </noise>
          </horizontal>
          <vertical>
            <noise type="gaussian">
              <mean>0.0</mean>
              <stddev>0.08</stddev>
            </noise>
          </vertical>
        </position_sensing>
        <velocity_sensing>
          <horizontal>
            <noise type="gaussian">
              <mean>0.0</mean>
              <stddev>0.05</stddev>
            </noise>
          </horizontal>
          <vertical>
            <noise type="gaussian">
              <mean>0.0</mean>
              <stddev>0.1</stddev>
            </noise>
          </vertical>
        </velocity_sensing>
      </gps>
      <plugin filename="libgazebo_ros_gps_sensor.so" name="left">
        <ros>
          <namespace>/tractor/gnss</namespace>
          <remapping>~/out:=left/fix</remapping>
          <remapping>~/vel:=left/vel</remapping>
        </ros>
        <frame_name>tractor_gnss_left_center</frame_name>
      </plugin>
    </sensor>
  </gazebo>
  <link name="tractor_gnss_autotrac_link">
    <inertial>
      <mass value="0.0005"/>
      <origin rpy=" 0 0 0" xyz="0 0 0"/>
      <inertia ixx="0.001" ixy="0" ixz="0" iyy="0.001" iyz="0" izz="0.001"/>
    </inertial>
    <collision>
      <origin rpy=" 0 0 0" xyz="0 0 0"/>
      <geometry>
        <cylinder length="0.05" radius="0.1"/>
      </geometry>
    </collision>
    <visual>
      <origin rpy=" 0 0 0" xyz="0 0 0"/>
      <geometry>
        <mesh filename="file://[local-path]/ws/common_ws/install/sensor_description/share/sensor_description/models/generic_gnss/meshes/generic_gnss.dae"/>
      </geometry>
    </visual>
  </link>
  <joint name="tractor_gnss_autotrac_joint" type="fixed">
    <parent link="roof_base"/>
    <child link="tractor_gnss_autotrac_link"/>
    <origin rpy="0 0 0" xyz="1.21 0 0.1"/>
  </joint>
  <gazebo reference="tractor_gnss_autotrac_link">
    <sensor name="gnss_autotrac_sensor" type="gps">
      <always_on>true</always_on>
      <update_rate>10.0</update_rate>
      <gps>
        <position_sensing>
          <horizontal>
            <noise type="gaussian">
              <mean>0.0</mean>
              <stddev>0.04</stddev>
            </noise>
          </horizontal>
          <vertical>
            <noise type="gaussian">
              <mean>0.0</mean>
              <stddev>0.08</stddev>
            </noise>
          </vertical>
        </position_sensing>
        <velocity_sensing>
          <horizontal>
            <noise type="gaussian">
              <mean>0.0</mean>
              <stddev>0.05</stddev>
            </noise>
          </horizontal>
          <vertical>
            <noise type="gaussian">
              <mean>0.0</mean>
              <stddev>0.1</stddev>
            </noise>
          </vertical>
        </velocity_sensing>
      </gps>
      <plugin filename="libgazebo_ros_gps_sensor.so" name="autotrac">
        <ros>
          <namespace>/tractor/gnss</namespace>
          <remapping>~/out:=autotrac/fix</remapping>
          <remapping>~/vel:=autotrac/vel</remapping>
        </ros>
        <frame_name>tractor_gnss_autotrac_link</frame_name>
      </plugin>
    </sensor>
  </gazebo>
  <link name="tractor_imu_center">
    <inertial>
      <mass value="0.0005"/>
      <origin rpy=" 0 0 0" xyz="0 0 0"/>
      <inertia ixx="0.001" ixy="0" ixz="0" iyy="0.001" iyz="0" izz="0.001"/>
    </inertial>
    <collision>
      <origin rpy=" 0 0 0" xyz="0 0 0"/>
      <geometry>
        <box size="0.05 0.05 0.05"/>
      </geometry>
    </collision>
    <visual>
      <origin rpy=" 0 0 0" xyz="0 0 0"/>
      <geometry>
        <box size="0.05 0.05 0.05"/>
      </geometry>
    </visual>
  </link>
  <joint name="tractor_imu_center_joint" type="fixed">
    <origin rpy="0 0 0" xyz="0 0 0.25"/>
    <parent link="tractor_chassis"/>
    <child link="tractor_imu_center"/>
    <origin rpy="0 0 0" xyz="0 0 0.25"/>
  </joint>
  <gazebo reference="tractor_imu_center">
    <sensor name="imu" type="imu">
      <always_on>true</always_on>
      <update_rate>100</update_rate>
      <imu>
        <angular_velocity>
          <x>
            <noise type="gaussian">
              <mean>0.0</mean>
              <stddev>2e-4</stddev>
            </noise>
          </x>
          <y>
            <noise type="gaussian">
              <mean>0.0</mean>
              <stddev>2e-4</stddev>
            </noise>
          </y>
          <z>
            <noise type="gaussian">
              <mean>0.0</mean>
              <stddev>2e-4</stddev>
            </noise>
          </z>
        </angular_velocity>
        <linear_acceleration>
          <x>
            <noise type="gaussian">
              <mean>0.0</mean>
              <stddev>1.7e-2</stddev>
            </noise>
          </x>
          <y>
            <noise type="gaussian">
              <mean>0.0</mean>
              <stddev>1.7e-2</stddev>
            </noise>
          </y>
          <z>
            <noise type="gaussian">
              <mean>0.0</mean>
              <stddev>1.7e-2</stddev>
            </noise>
          </z>
        </linear_acceleration>
      </imu>
      <plugin filename="libgazebo_ros_imu_sensor.so" name="center">
        <ros>
          <namespace>/tractor/imu</namespace>
          <remapping>~/out:=/tractor/imu/center/imu</remapping>
        </ros>
        <initial_orientation_as_reference>false</initial_orientation_as_reference>
        <frame_name>tractor_imu_center</frame_name>
      </plugin>
    </sensor>
  </gazebo>
  <!-- Lower hitch point -->
  <link name="implement_lower_hitch">
    <visual>
      <origin xyz="0 0 0"/>
      <geometry>
        <box size="0.05 0.5 0.05"/>
      </geometry>
      <material name="blue">
        <color rgba="0 0 0.8 1"/>
      </material>
    </visual>
    <collision>
      <origin xyz="0 0 0"/>
      <geometry>
        <box size="0.05 0.5 0.05"/>
      </geometry>
    </collision>
    <inertial>
      <origin xyz="0 0 0"/>
      <mass value="0.1"/>
      <inertia ixx="0.002104166666666667" ixy="0" ixz="0" iyy="4.166666666666668e-05" iyz="0" izz="0.002104166666666667"/>
    </inertial>
  </link>
  <joint name="implement_lower_hitch_to_lower_hitch_point" type="fixed">
    <parent link="hitch_rear_lower_hitch_point"/>
    <child link="implement_lower_hitch"/>
    <origin rpy="0 0 0" xyz="0 0 0"/>
  </joint>
  <!-- Upper hitch point -->
  <link name="implement_upper_hitch">
    <visual>
      <origin xyz="0 0 0"/>
      <geometry>
        <box size="0.05 0.03 0.05"/>
      </geometry>
      <material name="blue">
        <color rgba="0 0 0.8 1"/>
      </material>
    </visual>
    <collision>
      <origin xyz="0 0 0"/>
      <geometry>
        <box size="0.05 0.03 0.05"/>
      </geometry>
    </collision>
    <inertial>
      <origin xyz="0 0 0"/>
      <mass value="0.1"/>
      <inertia ixx="2.8333333333333335e-05" ixy="0" ixz="0" iyy="4.166666666666668e-05" iyz="0" izz="2.8333333333333335e-05"/>
    </inertial>
  </link>
  <joint name="implement_upper_hitch_to_implement_lower_hitch" type="fixed">
    <parent link="implement_lower_hitch"/>
    <child link="implement_upper_hitch"/>
    <origin rpy="0 0 0" xyz="0.0 0.0 0.7"/>
    <axis xyz="0 0 0"/>
  </joint>
  <!-- Implement visual -->
  <link name="implement_base">
    <visual>
      <origin rpy="0 0 1.57" xyz="-0.6 -1.13 -0.85"/>
      <geometry>
        <mesh filename="file://[local-path]/ws/common_ws/install/implement_description/share/implement_description/models/lemken_karat_10/meshes/lemken_karat_10.stl" scale="1.0 1.0 1.0"/>
      </geometry>
    </visual>
    <collision>
      <origin rpy="0 0 1.57" xyz="-0.6 -1.13 -0.85"/>
      <geometry>
        <mesh filename="file://[local-path]/ws/common_ws/install/implement_description/share/implement_description/models/lemken_karat_10/meshes/lemken_karat_10_collision.stl" scale="1.0 1.0 1.0"/>
      </geometry>
    </collision>
    <inertial>
      <origin rpy="0 0 1.57" xyz="-0.6 -1.13 -0.85"/>
      <mass value="0.1"/>
      <inertia ixx="0.13802083333333334" ixy="0" ixz="0" iyy="0.0234375" iyz="0" izz="0.15208333333333335"/>
    </inertial>
  </link>
  <joint name="implement_lower_hitch_to_implement_base" type="fixed">
    <parent link="implement_lower_hitch"/>
    <child link="implement_base"/>
    <origin rpy="0 0 0" xyz="-0.105 0.0 0.105"/>
    <axis xyz="0 0 0"/>
  </joint>
  <link name="implement_caster_wheel_left">
    <visual>
      <origin rpy="0 0 0" xyz="0 0 0"/>
      <geometry>
        <sphere radius="0.2"/>
      </geometry>
    </visual>
    <collision>
      <origin rpy="0 0 0" xyz="0 0 0"/>
      <geometry>
        <sphere radius="0.2"/>
      </geometry>
      <surface>
        <friction>
          <ode>
            <mu>0.0</mu>
            <mu2>0.0</mu2>
          </ode>
        </friction>
        <contact>
          <ode>
            <min_depth>0.01</min_depth>
          </ode>
        </contact>
      </surface>
    </collision>
    <inertial>
      <mass value="0.1"/>
      <inertia ixx="0.0016000000000000007" ixy="0.0" ixz="0.0" iyy="0.0016000000000000007" iyz="0.0" izz="0.0016000000000000007"/>
    </inertial>
  </link>
  <joint name="implement_caster_wheel_left" type="fixed">
    <parent link="implement_base"/>
    <child link="implement_caster_wheel_left"/>
    <origin rpy="0 0 0" xyz="-3.0 1.0 -0.45"/>
  </joint>
  <link name="implement_caster_wheel_right">
    <visual>
      <origin rpy="0 0 0" xyz="0 0 0"/>
      <geometry>
        <sphere radius="0.2"/>
      </geometry>
    </visual>
    <collision>
      <origin rpy="0 0 0" xyz="0 0 0"/>
      <geometry>
        <sphere radius="0.2"/>
      </geometry>
      <surface>
        <friction>
          <ode>
            <mu>0.0</mu>
            <mu2>0.0</mu2>
          </ode>
        </friction>
        <contact>
          <ode>
            <min_depth>0.01</min_depth>
          </ode>
        </contact>
      </surface>
    </collision>
    <inertial>
      <mass value="0.1"/>
      <inertia ixx="0.0016000000000000007" ixy="0.0" ixz="0.0" iyy="0.0016000000000000007" iyz="0.0" izz="0.0016000000000000007"/>
    </inertial>
  </link>
  <joint name="implement_caster_wheel_right" type="fixed">
    <parent link="implement_base"/>
    <child link="implement_caster_wheel_right"/>
    <origin rpy="0 0 0" xyz="-3.0 -1.0 -0.45"/>
  </joint>
  <!-- front right mount -->
  <link name="front_right_mount">
    <visual name="front_right_mount_visual">
      <origin rpy=" 0 0 0" xyz="0 0 0"/>
      <geometry>
        <box size="0.04 0.04 0.25"/>
      </geometry>
    </visual>
    <collision name="front_right_mount_collision">
      <origin rpy=" 0 0 0" xyz="0 0 0"/>
      <geometry>
        <box size="0.04 0.04 0.25"/>
      </geometry>
    </collision>
    <inertial>
      <mass value="0.1"/>
      <origin rpy=" 0 0 0" xyz="0 0 0"/>
      <inertia ixx="1e-6" ixy="0" ixz="0" iyy="1e-6" iyz="0" izz="1e-6"/>
    </inertial>
  </link>
  <joint name="front_right_mount_joint" type="fixed">
    <origin rpy="0 0.61 -1.4" xyz="-4.1 -1.0 0.4"/>
    <parent link="implement_base"/>
    <child link="front_right_mount"/>
  </joint>
  <link name="implement_radar_camera_bracket_front_right">
    <inertial>
      <mass value="0.0005"/>
      <origin rpy=" 0 0 0" xyz="0 0 0"/>
      <inertia ixx="0.001" ixy="0" ixz="0" iyy="0.001" iyz="0" izz="0.001"/>
    </inertial>
    <collision name="implement_radar_camera_bracket_front_right_collision">
      <origin rpy=" 0 0 0" xyz="0 0 0"/>
      <geometry>
        <box size="0.05 0.05 0.05"/>
      </geometry>
    </collision>
    <visual>
      <origin rpy="-1.570796327 0 1.570796327" xyz="0.007 -0.0485 0.0175"/>
      <geometry>
        <!-- <mesh filename="$(find sensor_description)/models/smartmicro_type169/meshes/radar_camera_bracket_nut.stl" scale="0.001 0.001 0.001" /> -->
        <box size="0.02 0.1 0.1"/>
      </geometry>
    </visual>
  </link>
  <joint name="implement_radar_camera_bracket_front_right_joint" type="fixed">
    <origin rpy="0 0 0" xyz="0.02 0 0.1"/>
    <parent link="front_right_mount"/>
    <child link="implement_radar_camera_bracket_front_right"/>
  </joint>
  <link name="implement_camera_bracket_front_right">
    <inertial>
      <mass value="0.0005"/>
      <origin rpy=" 0 0 0" xyz="0 0 0"/>
      <inertia ixx="0.001" ixy="0" ixz="0" iyy="0.001" iyz="0" izz="0.001"/>
    </inertial>
    <collision name="implement_camera_bracket_front_right_collision">
      <origin rpy=" 0 0 0" xyz="0 0 0"/>
      <geometry>
        <box size="0.05 0.05 0.05"/>
      </geometry>
    </collision>
    <visual>
      <origin rpy="1.57079 0 1.57079" xyz="0 0 0"/>
      <geometry>
        <!-- <mesh filename="$(find sensor_description)/models/arkvision_arkcam_mini/meshes/ark_cam_basic_bracket_red.dae" scale="0.001 0.001 0.001" /> -->
        <box size="0.05 0.05 0.05"/>
      </geometry>
    </visual>
  </link>
  <joint name="implement_camera_bracket_front_right_joint" type="fixed">
    <origin rpy="0 0 0" xyz="0.007 0 0"/>
    <parent link="implement_radar_camera_bracket_front_right"/>
    <child link="implement_camera_bracket_front_right"/>
  </joint>
  <!-- front left mount -->
  <link name="front_left_mount">
    <visual name="front_left_mount_visual">
      <origin rpy=" 0 0 0" xyz="0 0 0"/>
      <geometry>
        <box size="0.04 0.04 0.25"/>
      </geometry>
    </visual>
    <collision name="front_left_mount_collision">
      <origin rpy=" 0 0 0" xyz="0 0 0"/>
      <geometry>
        <box size="0.04 0.04 0.25"/>
      </geometry>
    </collision>
    <inertial>
      <mass value="0.1"/>
      <origin rpy=" 0 0 0" xyz="0 0 0"/>
      <inertia ixx="1e-6" ixy="0" ixz="0" iyy="1e-6" iyz="0" izz="1e-6"/>
    </inertial>
  </link>
  <joint name="front_left_mount_joint" type="fixed">
    <origin rpy="0 0.61 1.4" xyz="-4.1 1.0 0.4"/>
    <parent link="implement_base"/>
    <child link="front_left_mount"/>
  </joint>
  <link name="implement_radar_camera_bracket_front_left">
    <inertial>
      <mass value="0.0005"/>
      <origin rpy=" 0 0 0" xyz="0 0 0"/>
      <inertia ixx="0.001" ixy="0" ixz="0" iyy="0.001" iyz="0" izz="0.001"/>
    </inertial>
    <collision name="implement_radar_camera_bracket_front_left_collision">
      <origin rpy=" 0 0 0" xyz="0 0 0"/>
      <geometry>
        <box size="0.05 0.05 0.05"/>
      </geometry>
    </collision>
    <visual>
      <origin rpy="-1.570796327 0 1.570796327" xyz="0.007 -0.0485 0.0175"/>
      <geometry>
        <!-- <mesh filename="$(find sensor_description)/models/smartmicro_type169/meshes/radar_camera_bracket_nut.stl" scale="0.001 0.001 0.001" /> -->
        <box size="0.02 0.1 0.1"/>
      </geometry>
    </visual>
  </link>
  <joint name="implement_radar_camera_bracket_front_left_joint" type="fixed">
    <origin rpy="0 0 0" xyz="0.02 0 0.1"/>
    <parent link="front_left_mount"/>
    <child link="implement_radar_camera_bracket_front_left"/>
  </joint>
  <link name="implement_camera_bracket_front_left">
    <inertial>
      <mass value="0.0005"/>
      <origin rpy=" 0 0 0" xyz="0 0 0"/>
      <inertia ixx="0.001" ixy="0" ixz="0" iyy="0.001" iyz="0" izz="0.001"/>
    </inertial>
    <collision name="implement_camera_bracket_front_left_collision">
      <origin rpy=" 0 0 0" xyz="0 0 0"/>
      <geometry>
        <box size="0.05 0.05 0.05"/>
      </geometry>
    </collision>
    <visual>
      <origin rpy="1.57079 0 1.57079" xyz="0 0 0"/>
      <geometry>
        <!-- <mesh filename="$(find sensor_description)/models/arkvision_arkcam_mini/meshes/ark_cam_basic_bracket_red.dae" scale="0.001 0.001 0.001" /> -->
        <box size="0.05 0.05 0.05"/>
      </geometry>
    </visual>
  </link>
  <joint name="implement_camera_bracket_front_left_joint" type="fixed">
    <origin rpy="0 0 0" xyz="0.007 0 0"/>
    <parent link="implement_radar_camera_bracket_front_left"/>
    <child link="implement_camera_bracket_front_left"/>
  </joint>
  <!-- rear mount -->
  <link name="rear_mount">
    <visual name="rear_mount_visual">
      <origin rpy=" 0 0 0" xyz="0 0 0"/>
      <geometry>
        <box size="0.04 0.04 0.25"/>
      </geometry>
    </visual>
    <collision name="rear_mount_collision">
      <origin rpy=" 0 0 0" xyz="0 0 0"/>
      <geometry>
        <box size="0.04 0.04 0.25"/>
      </geometry>
    </collision>
    <inertial>
      <mass value="0.1"/>
      <origin rpy=" 0 0 0" xyz="0 0 0"/>
      <inertia ixx="1e-6" ixy="0" ixz="0" iyy="1e-6" iyz="0" izz="1e-6"/>
    </inertial>
  </link>
  <joint name="rear_mount_joint" type="fixed">
    <origin rpy="0 0.7 -3.14" xyz="-4.2 0.0 0.3"/>
    <parent link="implement_base"/>
    <child link="rear_mount"/>
  </joint>
  <link name="implement_radar_camera_bracket_rear">
    <inertial>
      <mass value="0.0005"/>
      <origin rpy=" 0 0 0" xyz="0 0 0"/>
      <inertia ixx="0.001" ixy="0" ixz="0" iyy="0.001" iyz="0" izz="0.001"/>
    </inertial>
    <collision name="implement_radar_camera_bracket_rear_collision">
      <origin rpy=" 0 0 0" xyz="0 0 0"/>
      <geometry>
        <box size="0.05 0.05 0.05"/>
      </geometry>
    </collision>
    <visual>
      <origin rpy="-1.570796327 0 1.570796327" xyz="0.007 -0.0485 0.0175"/>
      <geometry>
        <!-- <mesh filename="$(find sensor_description)/models/smartmicro_type169/meshes/radar_camera_bracket_nut.stl" scale="0.001 0.001 0.001" /> -->
        <box size="0.02 0.1 0.1"/>
      </geometry>
    </visual>
  </link>
  <joint name="implement_radar_camera_bracket_rear_joint" type="fixed">
    <origin rpy="0 0 0" xyz="0.02 0 0.1"/>
    <parent link="rear_mount"/>
    <child link="implement_radar_camera_bracket_rear"/>
  </joint>
  <link name="implement_camera_bracket_rear">
    <inertial>
      <mass value="0.0005"/>
      <origin rpy=" 0 0 0" xyz="0 0 0"/>
      <inertia ixx="0.001" ixy="0" ixz="0" iyy="0.001" iyz="0" izz="0.001"/>
    </inertial>
    <collision name="implement_camera_bracket_rear_collision">
      <origin rpy=" 0 0 0" xyz="0 0 0"/>
      <geometry>
        <box size="0.05 0.05 0.05"/>
      </geometry>
    </collision>
    <visual>
      <origin rpy="1.57079 0 1.57079" xyz="0 0 0"/>
      <geometry>
        <!-- <mesh filename="$(find sensor_description)/models/arkvision_arkcam_mini/meshes/ark_cam_basic_bracket_red.dae" scale="0.001 0.001 0.001" /> -->
        <box size="0.05 0.05 0.05"/>
      </geometry>
    </visual>
  </link>
  <joint name="implement_camera_bracket_rear_joint" type="fixed">
    <origin rpy="0 0 0" xyz="0.007 0 0"/>
    <parent link="implement_radar_camera_bracket_rear"/>
    <child link="implement_camera_bracket_rear"/>
  </joint>
  <!-- Sensor coordinate frame pointing opposite direction of connector at the bottom of the sensor -->
  <link name="nominal_implement_lidar_front">
    <inertial>
      <mass value="0.00002"/>
      <origin xyz="0 0 0.03585"/>
      <inertia ixx="2.1880950000000003e-08" ixy="0" ixz="0" iyy="2.1880950000000003e-08" iyz="0" izz="2.66256e-08"/>
    </inertial>
    <visual>
      <origin rpy="1.5708 0 -1.5708" xyz="0 0 0"/>
      <geometry>
        <mesh filename="file://[local-path]/ws/common_ws/install/sensor_description/share/sensor_description/models/ouster_OS0-128/meshes/OS0.dae"/>
      </geometry>
    </visual>
    <collision>
      <origin rpy="0 0 0" xyz="0 0 0.03585"/>
      <geometry>
        <cylinder length="0.0717" radius="0.0516"/>
      </geometry>
    </collision>
  </link>
  <joint name="nominal_implement_lidar_front_joint" type="fixed">
    <origin rpy="-1.57 -1.57 1.57" xyz="-4.48 0 0.15"/>
    <parent link="implement_base"/>
    <child link="nominal_implement_lidar_front"/>
  </joint>
  <link name="implement_lidar_front/laser"/>
  <joint name="implement_lidar_front_laser" type="fixed">
    <origin rpy="0.0 0.0 3.14" xyz="0 0 36.180e-3"/>
    <parent link="implement_lidar_front"/>
    <child link="implement_lidar_front/laser"/>
  </joint>
  <link name="implement_lidar_front/imu"/>
  <joint name="implement_lidar_front_imu" type="fixed">
    <origin rpy="0.0 0.0 0.0" xyz="6.253e-3 -11.775e-3 7.645e-3"/>
    <parent link="implement_lidar_front"/>
    <child link="implement_lidar_front/imu"/>
  </joint>
  <link name="implement_lidar_front">
    <inertial>
      <mass value="0.0005"/>
      <origin rpy=" 0 0 0" xyz="0 0 0"/>
      <inertia ixx="0.001" ixy="0" ixz="0" iyy="0.001" iyz="0" izz="0.001"/>
    </inertial>
  </link>
  <joint name="nominal_implement_lidar_front_implement_lidar_front_joint" type="fixed">
    <parent link="nominal_implement_lidar_front"/>
    <child link="implement_lidar_front"/>
    <origin rpy="0 -0.09 3.14159265359" xyz="0.1 0 0"/>
  </joint>
  <!-- Gazebo requires the velodyne_gazebo_plugins package -->
  <gazebo reference="implement_lidar_front/laser">
    <sensor name="implement_lidar_front-OS0128" type="ray">
      <pose>0 0 0 0 0 0</pose>
      <visualize>false</visualize>
      <update_rate>10</update_rate>
      <ray>
        <scan>
          <horizontal>
            <samples>512</samples>
            <resolution>1</resolution>
            <min_angle>-3.141592653589793</min_angle>
            <max_angle>3.141592653589793</max_angle>
          </horizontal>
          <vertical>
            <samples>32</samples>
            <resolution>1</resolution>
            <min_angle>-0.7853981633974483</min_angle>
            <max_angle> 0.7853981633974483</max_angle>
          </vertical>
        </scan>
        <range>
          <min>0.3</min>
          <max>51.0</max>
          <resolution>0.001</resolution>
        </range>
        <noise>
          <type>gaussian</type>
          <mean>0.0</mean>
          <stddev>0.0</stddev>
        </noise>
      </ray>
      <plugin filename="libgazebo_ros_velodyne_laser.so" name="front">
        <ros>
          <namespace>/implement/lidar</namespace>
          <remapping>~/out:=/implement/lidar/front/points</remapping>
        </ros>
        <tf_prefix>implement</tf_prefix>
        <frame_name>implement_lidar_front/laser</frame_name>
        <organize_cloud>False</organize_cloud>
        <min_range>0.1</min_range>
        <max_range>50.0</max_range>
        <gaussian_noise>0.008</gaussian_noise>
      </plugin>
    </sensor>
  </gazebo>
  <gazebo reference="implement_lidar_front/imu">
    <sensor name="imu" type="imu">
      <always_on>true</always_on>
      <update_rate>100</update_rate>
      <imu>
        <angular_velocity>
          <x>
            <noise type="gaussian">
              <mean>0.0</mean>
              <stddev>2e-4</stddev>
            </noise>
          </x>
          <y>
            <noise type="gaussian">
              <mean>0.0</mean>
              <stddev>2e-4</stddev>
            </noise>
          </y>
          <z>
            <noise type="gaussian">
              <mean>0.0</mean>
              <stddev>2e-4</stddev>
            </noise>
          </z>
        </angular_velocity>
        <linear_acceleration>
          <x>
            <noise type="gaussian">
              <mean>0.0</mean>
              <stddev>1.7e-2</stddev>
            </noise>
          </x>
          <y>
            <noise type="gaussian">
              <mean>0.0</mean>
              <stddev>1.7e-2</stddev>
            </noise>
          </y>
          <z>
            <noise type="gaussian">
              <mean>0.0</mean>
              <stddev>1.7e-2</stddev>
            </noise>
          </z>
        </linear_acceleration>
      </imu>
      <plugin filename="libgazebo_ros_imu_sensor.so" name="front">
        <ros>
          <namespace>/implement/lidar/imu</namespace>
          <remapping>~/out:=/implement/lidar/front/imu</remapping>
        </ros>
        <initial_orientation_as_reference>false</initial_orientation_as_reference>
        <frame_name>implement_lidar_front/imu</frame_name>
      </plugin>
    </sensor>
  </gazebo>
  <link name="nominal_implement_camera_mount_front_right">
    <inertial>
      <mass value="0.0005"/>
      <origin rpy=" 0 0 0" xyz="0 0 0"/>
      <inertia ixx="0.001" ixy="0" ixz="0" iyy="0.001" iyz="0" izz="0.001"/>
    </inertial>
    <collision name="nominal_implement_camera_mount_front_right_collision">
      <origin rpy=" 0 0 0" xyz="0 0 0"/>
      <geometry>
        <!-- <mesh filename="package://sensor_description/models/arkvision_arkcam_mini/meshes/ark_cam_basic_red.dae" scale="0.001 0.001 0.001" /> -->
        <box size="0.05 0.05 0.05"/>
      </geometry>
    </collision>
    <visual>
      <origin rpy="0 0 0" xyz="0 0 0"/>
      <geometry>
        <!-- <mesh filename="file://$(find sensor_description)/models/arkvision_arkcam_mini/meshes/ark_cam_basic_red.dae" scale="0.001 0.001 0.001" /> -->
        <box size="0.05 0.05 0.05"/>
      </geometry>
    </visual>
  </link>
  <joint name="nominal_implement_camera_mount_front_right_joint" type="fixed">
    <origin rpy="0 0 0" xyz="0.042 0 0"/>
    <parent link="implement_camera_bracket_front_right"/>
    <child link="nominal_implement_camera_mount_front_right"/>
  </joint>
  <link name="nominal_implement_camera_front_right">
    <inertial>
      <mass value="0.0005"/>
      <origin rpy=" 0 0 0" xyz="0 0 0"/>
      <inertia ixx="0.001" ixy="0" ixz="0" iyy="0.001" iyz="0" izz="0.001"/>
    </inertial>
  </link>
  <joint name="nominal_implement_camera_front_right_joint" type="fixed">
    <origin rpy="0 0 0" xyz="0.015 0 0"/>
    <parent link="nominal_implement_camera_mount_front_right"/>
    <child link="nominal_implement_camera_front_right"/>
  </joint>
  <link name="nominal_implement_camera_front_right_optical_frame">
    <inertial>
      <mass value="0.0005"/>
      <origin rpy=" 0 0 0" xyz="0 0 0"/>
      <inertia ixx="0.001" ixy="0" ixz="0" iyy="0.001" iyz="0" izz="0.001"/>
    </inertial>
  </link>
  <joint name="nominal_implement_camera_front_right_optical_joint" type="fixed">
    <origin rpy="0 0 0" xyz="0 0 0"/>
    <parent link="nominal_implement_camera_front_right"/>
    <child link="nominal_implement_camera_front_right_optical_frame"/>
  </joint>
  <link name="implement_camera_front_right_optical_frame">
    <inertial>
      <mass value="0.0005"/>
      <origin rpy=" 0 0 0" xyz="0 0 0"/>
      <inertia ixx="0.001" ixy="0" ixz="0" iyy="0.001" iyz="0" izz="0.001"/>
    </inertial>
  </link>
  <joint name="nominal_implement_camera_front_right_optical_frame_implement_camera_front_right_optical_frame_joint" type="fixed">
    <parent link="nominal_implement_camera_front_right_optical_frame"/>
    <child link="implement_camera_front_right_optical_frame"/>
    <origin rpy="0 0 0" xyz="0 0 0"/>
  </joint>
  <!-- camera plugin-->
  <gazebo reference="implement_camera_front_right_optical_frame">
    <sensor name="implement_camera_front_right" type="wideanglecamera">
      <update_rate>5.0</update_rate>
      <camera name="head_front_right">
        <horizontal_fov>3.0</horizontal_fov>
        <image>
          <width>640</width>
          <height>480</height>
          <format>R8G8B8</format>
        </image>
        <clip>
          <near>0.02</near>
          <far>300</far>
        </clip>
        <lens>
          <!-- type element is mandatory -->
          <type>custom</type>
          <!-- manually defined mapping function r = c1*f*fun(theta/c2 + c3) -->
          <!-- More information here https://en.wikipedia.org/wiki/Fisheye_lens#Mapping_function -->
          <custom_function>
            <c1>1.05</c1>
            <!-- linear scaling -->
            <c2>4</c2>
            <!-- angle scaling -->
            <f>1.0</f>
            <!-- one more scaling parameter -->
            <fun>tan</fun>
            <!-- one of sin,tan,id -->
          </custom_function>
          <!-- if it is set to `true` your horizontal FOV will ramain as defined -->
          <!-- othervise it depends on lens type and custom function, if there is one -->
          <scale_to_hfov>true</scale_to_hfov>
          <!-- clip everything that is outside of this angle -->
          <cutoff_angle>3.0</cutoff_angle>
          <!-- resolution of the cubemap texture, the highter it is - the sharper is your image -->
          <env_texture_size>512</env_texture_size>
        </lens>
      </camera>
      <plugin filename="libgazebo_ros_camera.so" name="front_right">
        <ros>
          <namespace>implement/camera</namespace>
        </ros>
        <alwaysOn>true</alwaysOn>
        <updateRate>5.0</updateRate>
        <camera_name>front_right</camera_name>
        <imageTopicName>rgb/image_raw</imageTopicName>
        <cameraInfoTopicName>rgb/camera_info</cameraInfoTopicName>
        <frameName>implement_camera_front_right_optical_frame</frameName>
        <hackBaseline>0.07</hackBaseline>
        <!--distortionK1>0.0</distortionK1>
                                        <distortionK2>0.0</distortionK2>
                                        <distortionK3>0.0</distortionK3>
                                        <distortionT1>0.0</distortionT1>
                                        <distortionT2>0.0</distortionT2-->
      </plugin>
    </sensor>
  </gazebo>
  <link name="nominal_implement_camera_mount_front_left">
    <inertial>
      <mass value="0.0005"/>
      <origin rpy=" 0 0 0" xyz="0 0 0"/>
      <inertia ixx="0.001" ixy="0" ixz="0" iyy="0.001" iyz="0" izz="0.001"/>
    </inertial>
    <collision name="nominal_implement_camera_mount_front_left_collision">
      <origin rpy=" 0 0 0" xyz="0 0 0"/>
      <geometry>
        <!-- <mesh filename="package://sensor_description/models/arkvision_arkcam_mini/meshes/ark_cam_basic_red.dae" scale="0.001 0.001 0.001" /> -->
        <box size="0.05 0.05 0.05"/>
      </geometry>
    </collision>
    <visual>
      <origin rpy="0 0 0" xyz="0 0 0"/>
      <geometry>
        <!-- <mesh filename="file://$(find sensor_description)/models/arkvision_arkcam_mini/meshes/ark_cam_basic_red.dae" scale="0.001 0.001 0.001" /> -->
        <box size="0.05 0.05 0.05"/>
      </geometry>
    </visual>
  </link>
  <joint name="nominal_implement_camera_mount_front_left_joint" type="fixed">
    <origin rpy="0 0 0" xyz="0.042 0 0"/>
    <parent link="implement_camera_bracket_front_left"/>
    <child link="nominal_implement_camera_mount_front_left"/>
  </joint>
  <link name="nominal_implement_camera_front_left">
    <inertial>
      <mass value="0.0005"/>
      <origin rpy=" 0 0 0" xyz="0 0 0"/>
      <inertia ixx="0.001" ixy="0" ixz="0" iyy="0.001" iyz="0" izz="0.001"/>
    </inertial>
  </link>
  <joint name="nominal_implement_camera_front_left_joint" type="fixed">
    <origin rpy="0 0 0" xyz="0.015 0 0"/>
    <parent link="nominal_implement_camera_mount_front_left"/>
    <child link="nominal_implement_camera_front_left"/>
  </joint>
  <link name="nominal_implement_camera_front_left_optical_frame">
    <inertial>
      <mass value="0.0005"/>
      <origin rpy=" 0 0 0" xyz="0 0 0"/>
      <inertia ixx="0.001" ixy="0" ixz="0" iyy="0.001" iyz="0" izz="0.001"/>
    </inertial>
  </link>
  <joint name="nominal_implement_camera_front_left_optical_joint" type="fixed">
    <origin rpy="0 0 0" xyz="0 0 0"/>
    <parent link="nominal_implement_camera_front_left"/>
    <child link="nominal_implement_camera_front_left_optical_frame"/>
  </joint>
  <link name="implement_camera_front_left_optical_frame">
    <inertial>
      <mass value="0.0005"/>
      <origin rpy=" 0 0 0" xyz="0 0 0"/>
      <inertia ixx="0.001" ixy="0" ixz="0" iyy="0.001" iyz="0" izz="0.001"/>
    </inertial>
  </link>
  <joint name="nominal_implement_camera_front_left_optical_frame_implement_camera_front_left_optical_frame_joint" type="fixed">
    <parent link="nominal_implement_camera_front_left_optical_frame"/>
    <child link="implement_camera_front_left_optical_frame"/>
    <origin rpy="0 0 0" xyz="0 0 0"/>
  </joint>
  <!-- camera plugin-->
  <gazebo reference="implement_camera_front_left_optical_frame">
    <sensor name="implement_camera_front_left" type="wideanglecamera">
      <update_rate>5.0</update_rate>
      <camera name="head_front_left">
        <horizontal_fov>3.0</horizontal_fov>
        <image>
          <width>640</width>
          <height>480</height>
          <format>R8G8B8</format>
        </image>
        <clip>
          <near>0.02</near>
          <far>300</far>
        </clip>
        <lens>
          <!-- type element is mandatory -->
          <type>custom</type>
          <!-- manually defined mapping function r = c1*f*fun(theta/c2 + c3) -->
          <!-- More information here https://en.wikipedia.org/wiki/Fisheye_lens#Mapping_function -->
          <custom_function>
            <c1>1.05</c1>
            <!-- linear scaling -->
            <c2>4</c2>
            <!-- angle scaling -->
            <f>1.0</f>
            <!-- one more scaling parameter -->
            <fun>tan</fun>
            <!-- one of sin,tan,id -->
          </custom_function>
          <!-- if it is set to `true` your horizontal FOV will ramain as defined -->
          <!-- othervise it depends on lens type and custom function, if there is one -->
          <scale_to_hfov>true</scale_to_hfov>
          <!-- clip everything that is outside of this angle -->
          <cutoff_angle>3.0</cutoff_angle>
          <!-- resolution of the cubemap texture, the highter it is - the sharper is your image -->
          <env_texture_size>512</env_texture_size>
        </lens>
      </camera>
      <plugin filename="libgazebo_ros_camera.so" name="front_left">
        <ros>
          <namespace>implement/camera</namespace>
        </ros>
        <alwaysOn>true</alwaysOn>
        <updateRate>5.0</updateRate>
        <camera_name>front_left</camera_name>
        <imageTopicName>rgb/image_raw</imageTopicName>
        <cameraInfoTopicName>rgb/camera_info</cameraInfoTopicName>
        <frameName>implement_camera_front_left_optical_frame</frameName>
        <hackBaseline>0.07</hackBaseline>
        <!--distortionK1>0.0</distortionK1>
                                        <distortionK2>0.0</distortionK2>
                                        <distortionK3>0.0</distortionK3>
                                        <distortionT1>0.0</distortionT1>
                                        <distortionT2>0.0</distortionT2-->
      </plugin>
    </sensor>
  </gazebo>
  <link name="nominal_implement_camera_mount_rear">
    <inertial>
      <mass value="0.0005"/>
      <origin rpy=" 0 0 0" xyz="0 0 0"/>
      <inertia ixx="0.001" ixy="0" ixz="0" iyy="0.001" iyz="0" izz="0.001"/>
    </inertial>
    <collision name="nominal_implement_camera_mount_rear_collision">
      <origin rpy=" 0 0 0" xyz="0 0 0"/>
      <geometry>
        <!-- <mesh filename="package://sensor_description/models/arkvision_arkcam_mini/meshes/ark_cam_basic_red.dae" scale="0.001 0.001 0.001" /> -->
        <box size="0.05 0.05 0.05"/>
      </geometry>
    </collision>
    <visual>
      <origin rpy="0 0 0" xyz="0 0 0"/>
      <geometry>
        <!-- <mesh filename="file://$(find sensor_description)/models/arkvision_arkcam_mini/meshes/ark_cam_basic_red.dae" scale="0.001 0.001 0.001" /> -->
        <box size="0.05 0.05 0.05"/>
      </geometry>
    </visual>
  </link>
  <joint name="nominal_implement_camera_mount_rear_joint" type="fixed">
    <origin rpy="0 0 0" xyz="0.042 0 0"/>
    <parent link="implement_camera_bracket_rear"/>
    <child link="nominal_implement_camera_mount_rear"/>
  </joint>
  <link name="nominal_implement_camera_rear">
    <inertial>
      <mass value="0.0005"/>
      <origin rpy=" 0 0 0" xyz="0 0 0"/>
      <inertia ixx="0.001" ixy="0" ixz="0" iyy="0.001" iyz="0" izz="0.001"/>
    </inertial>
  </link>
  <joint name="nominal_implement_camera_rear_joint" type="fixed">
    <origin rpy="0 0 0" xyz="0.015 0 0"/>
    <parent link="nominal_implement_camera_mount_rear"/>
    <child link="nominal_implement_camera_rear"/>
  </joint>
  <link name="nominal_implement_camera_rear_optical_frame">
    <inertial>
      <mass value="0.0005"/>
      <origin rpy=" 0 0 0" xyz="0 0 0"/>
      <inertia ixx="0.001" ixy="0" ixz="0" iyy="0.001" iyz="0" izz="0.001"/>
    </inertial>
  </link>
  <joint name="nominal_implement_camera_rear_optical_joint" type="fixed">
    <origin rpy="0 0 0" xyz="0 0 0"/>
    <parent link="nominal_implement_camera_rear"/>
    <child link="nominal_implement_camera_rear_optical_frame"/>
  </joint>
  <link name="implement_camera_rear_optical_frame">
    <inertial>
      <mass value="0.0005"/>
      <origin rpy=" 0 0 0" xyz="0 0 0"/>
      <inertia ixx="0.001" ixy="0" ixz="0" iyy="0.001" iyz="0" izz="0.001"/>
    </inertial>
  </link>
  <joint name="nominal_implement_camera_rear_optical_frame_implement_camera_rear_optical_frame_joint" type="fixed">
    <parent link="nominal_implement_camera_rear_optical_frame"/>
    <child link="implement_camera_rear_optical_frame"/>
    <origin rpy="0 0 0" xyz="0 0 0"/>
  </joint>
  <!-- camera plugin-->
  <gazebo reference="implement_camera_rear_optical_frame">
    <sensor name="implement_camera_rear" type="wideanglecamera">
      <update_rate>5.0</update_rate>
      <camera name="head_rear">
        <horizontal_fov>3.0</horizontal_fov>
        <image>
          <width>640</width>
          <height>480</height>
          <format>R8G8B8</format>
        </image>
        <clip>
          <near>0.02</near>
          <far>300</far>
        </clip>
        <lens>
          <!-- type element is mandatory -->
          <type>custom</type>
          <!-- manually defined mapping function r = c1*f*fun(theta/c2 + c3) -->
          <!-- More information here https://en.wikipedia.org/wiki/Fisheye_lens#Mapping_function -->
          <custom_function>
            <c1>1.05</c1>
            <!-- linear scaling -->
            <c2>4</c2>
            <!-- angle scaling -->
            <f>1.0</f>
            <!-- one more scaling parameter -->
            <fun>tan</fun>
            <!-- one of sin,tan,id -->
          </custom_function>
          <!-- if it is set to `true` your horizontal FOV will ramain as defined -->
          <!-- othervise it depends on lens type and custom function, if there is one -->
          <scale_to_hfov>true</scale_to_hfov>
          <!-- clip everything that is outside of this angle -->
          <cutoff_angle>3.0</cutoff_angle>
          <!-- resolution of the cubemap texture, the highter it is - the sharper is your image -->
          <env_texture_size>512</env_texture_size>
        </lens>
      </camera>
      <plugin filename="libgazebo_ros_camera.so" name="rear">
        <ros>
          <namespace>implement/camera</namespace>
        </ros>
        <alwaysOn>true</alwaysOn>
        <updateRate>5.0</updateRate>
        <camera_name>rear</camera_name>
        <imageTopicName>rgb/image_raw</imageTopicName>
        <cameraInfoTopicName>rgb/camera_info</cameraInfoTopicName>
        <frameName>implement_camera_rear_optical_frame</frameName>
        <hackBaseline>0.07</hackBaseline>
        <!--distortionK1>0.0</distortionK1>
                                        <distortionK2>0.0</distortionK2>
                                        <distortionK3>0.0</distortionK3>
                                        <distortionT1>0.0</distortionT1>
                                        <distortionT2>0.0</distortionT2-->
      </plugin>
    </sensor>
  </gazebo>
  <!-- Zed links and joints -->
  <link name="nominal_implement_stereo_zed2x_rear">
    <inertial>
      <mass value="0.0005"/>
      <origin rpy=" 0 0 0" xyz="0 0 0"/>
      <inertia ixx="0.001" ixy="0" ixz="0" iyy="0.001" iyz="0" izz="0.001"/>
    </inertial>
    <collision name="nominal_implement_stereo_zed2x_rear_collision">
      <origin rpy=" 0 0 0" xyz="0 0 0"/>
      <geometry>
        <box size="0.02 0.1 0.1"/>
      </geometry>
    </collision>
    <visual name="nominal_implement_stereo_zed2x_rear_visual">
      <origin rpy=" 0 0 0" xyz="0 0 0"/>
      <geometry>
        <mesh filename="file://[local-path]/ws/common_ws/install/sensor_description/share/sensor_description/models/stereolabs_zed2i/meshes/zed2i.stl" scale="1 1 1"/>
      </geometry>
    </visual>
  </link>
  <joint name="nominal_implement_stereo_zed2x_rear_joint" type="fixed">
    <origin rpy="0 1.92 0" xyz="-0.4 0 1.77"/>
    <parent link="implement_base"/>
    <child link="nominal_implement_stereo_zed2x_rear"/>
  </joint>
  <link name="nominal_implement_stereo_zed2x_rear_optical_frame">
    <inertial>
      <mass value="0.0005"/>
      <origin rpy=" 0 0 0" xyz="0 0 0"/>
      <inertia ixx="0.001" ixy="0" ixz="0" iyy="0.001" iyz="0" izz="0.001"/>
    </inertial>
  </link>
  <joint name="nominal_implement_stereo_zed2x_rear_optical_joint" type="fixed">
    <origin rpy="-1.5707963267948966 0 -1.5707963267948966" xyz="0 0 0"/>
    <parent link="nominal_implement_stereo_zed2x_rear"/>
    <child link="nominal_implement_stereo_zed2x_rear_optical_frame"/>
  </joint>
  <!-- <xacro:create_frame parent="${config_stereo['parent']}" name="implement_zed_camera_rear_left_camera_optical_frame">
                        <origin xyz="${config_stereo['xyz']}" rpy="${config_stereo['rpy']}" />
                </xacro:create_frame>

                <xacro:zed2i_simulation name="zed2x_rear" prefix="implement" /> -->
  <link name="nominal_implement_camera_mount_front_low">
    <inertial>
      <mass value="0.0005"/>
      <origin rpy=" 0 0 0" xyz="0 0 0"/>
      <inertia ixx="0.001" ixy="0" ixz="0" iyy="0.001" iyz="0" izz="0.001"/>
    </inertial>
    <collision name="nominal_implement_camera_mount_front_low_collision">
      <origin rpy=" 0 0 0" xyz="0 0 0"/>
      <geometry>
        <box size="0.05 0.05 0.05"/>
      </geometry>
    </collision>
    <visual>
      <origin rpy=" 0 0 0" xyz="0 0 0"/>
      <geometry>
        <box size="0.05 0.05 0.05"/>
      </geometry>
    </visual>
  </link>
  <joint name="nominal_implement_camera_mount_front_low_joint" type="fixed">
    <origin rpy="0 0.2 3.14" xyz="0.12 0 -0.1"/>
    <parent link="implement_base"/>
    <child link="nominal_implement_camera_mount_front_low"/>
  </joint>
  <link name="nominal_implement_camera_front_low">
    <inertial>
      <mass value="0.0005"/>
      <origin rpy=" 0 0 0" xyz="0 0 0"/>
      <inertia ixx="0.001" ixy="0" ixz="0" iyy="0.001" iyz="0" izz="0.001"/>
    </inertial>
  </link>
  <joint name="nominal_implement_camera_front_low_joint" type="fixed">
    <origin rpy="0 0 0" xyz="0.015 0 0"/>
    <parent link="nominal_implement_camera_mount_front_low"/>
    <child link="nominal_implement_camera_front_low"/>
  </joint>
  <link name="nominal_implement_camera_front_low_optical_frame">
    <inertial>
      <mass value="0.0005"/>
      <origin rpy=" 0 0 0" xyz="0 0 0"/>
      <inertia ixx="0.001" ixy="0" ixz="0" iyy="0.001" iyz="0" izz="0.001"/>
    </inertial>
  </link>
  <joint name="nominal_implement_camera_front_low_optical_joint" type="fixed">
    <origin rpy="0 0 0" xyz="0 0 0"/>
    <parent link="nominal_implement_camera_front_low"/>
    <child link="nominal_implement_camera_front_low_optical_frame"/>
  </joint>
  <link name="implement_camera_front_low_optical_frame">
    <inertial>
      <mass value="0.0005"/>
      <origin rpy=" 0 0 0" xyz="0 0 0"/>
      <inertia ixx="0.001" ixy="0" ixz="0" iyy="0.001" iyz="0" izz="0.001"/>
    </inertial>
  </link>
  <joint name="nominal_implement_camera_front_low_optical_frame_implement_camera_front_low_optical_frame_joint" type="fixed">
    <parent link="nominal_implement_camera_front_low_optical_frame"/>
    <child link="implement_camera_front_low_optical_frame"/>
    <origin rpy="0 0 0" xyz="0 0 0"/>
  </joint>
  <!-- camera plugin -->
  <gazebo reference="implement_camera_front_low_optical_frame">
    <sensor name="implement_camera_front_low" type="wideanglecamera">
      <update_rate>5.0</update_rate>
      <camera name="head_front_low">
        <horizontal_fov>2.18</horizontal_fov>
        <image>
          <!-- full hd reduced by factor 2 -->
          <width>960</width>
          <height>540</height>
          <format>R8G8B8</format>
        </image>
        <clip>
          <near>0.3</near>
          <far>300</far>
        </clip>
      </camera>
      <plugin filename="libgazebo_ros_camera.so" name="front_low">
        <ros>
          <namespace>implement/camera</namespace>
        </ros>
        <alwaysOn>true</alwaysOn>
        <updateRate>5.0</updateRate>
        <camera_name>front_low</camera_name>
        <imageTopicName>rgb/image_raw</imageTopicName>
        <cameraInfoTopicName>rgb/camera_info</cameraInfoTopicName>
        <frameName>implement_camera_front_low_optical_frame</frameName>
        <hackBaseline>0.07</hackBaseline>
        <!--distortionK1>0.0</distortionK1>
                                        <distortionK2>0.0</distortionK2>
                                        <distortionK3>0.0</distortionK3>
                                        <distortionT1>0.0</distortionT1>
                                        <distortionT2>0.0</distortionT2-->
      </plugin>
    </sensor>
  </gazebo>
  <!-- Radar links and joints -->
  <link name="nominal_implement_radar_front_right">
    <inertial>
      <mass value="0.0005"/>
      <origin rpy=" 0 0 0" xyz="0 0 0"/>
      <inertia ixx="0.001" ixy="0" ixz="0" iyy="0.001" iyz="0" izz="0.001"/>
    </inertial>
    <collision name="nominal_implement_radar_front_right_collision">
      <origin rpy=" 0 0 0" xyz="0 0 0"/>
      <geometry>
        <box size="0.02 0.1 0.1"/>
      </geometry>
    </collision>
    <visual name="nominal_implement_radar_front_right_visual">
      <origin rpy=" 0 1.57079 -1.57079" xyz="0 -0.002 0"/>
      <geometry>
        <box size="0.02 0.1 0.1"/>
        <!-- <mesh filename="file://$(find sensor_description)/models/smartmicro_type169/meshes/smartmicro_type169.dae" scale="1.0 1.0 1.0" /> -->
      </geometry>
    </visual>
  </link>
  <joint name="nominal_implement_radar_front_right_joint" type="fixed">
    <origin rpy="0 0 0" xyz="0.007 0 -0.084"/>
    <parent link="implement_camera_bracket_front_right"/>
    <child link="nominal_implement_radar_front_right"/>
  </joint>
  <link name="nominal_implement_radar_front_right_optical_frame">
    <inertial>
      <mass value="0.0005"/>
      <origin rpy=" 0 0 0" xyz="0 0 0"/>
      <inertia ixx="0.001" ixy="0" ixz="0" iyy="0.001" iyz="0" izz="0.001"/>
    </inertial>
  </link>
  <joint name="nominal_implement_radar_front_right_optical_joint" type="fixed">
    <origin rpy="-1.57 0 -1.57" xyz="0 0 0"/>
    <parent link="nominal_implement_radar_front_right"/>
    <child link="nominal_implement_radar_front_right_optical_frame"/>
  </joint>
  <link name="implement_radar_front_right">
    <inertial>
      <mass value="0.0005"/>
      <origin rpy=" 0 0 0" xyz="0 0 0"/>
      <inertia ixx="0.001" ixy="0" ixz="0" iyy="0.001" iyz="0" izz="0.001"/>
    </inertial>
  </link>
  <joint name="nominal_implement_radar_front_right_implement_radar_front_right_joint" type="fixed">
    <parent link="nominal_implement_radar_front_right"/>
    <child link="implement_radar_front_right"/>
    <origin rpy="2.94961 -0.610906585046 0.331613" xyz="0 0 -0.5"/>
  </joint>
  <!-- radar simulated by depth camera plugin -->
  <gazebo reference="nominal_implement_radar_front_right">
    <sensor name="front_right" type="depth">
      <update_rate>5</update_rate>
      <camera>
        <horizontal_fov>2.44</horizontal_fov>
        <image>
          <width>70</width>
          <height>14</height>
          <format>R8G8B8</format>
        </image>
        <clip>
          <near>0.1</near>
          <far>1000</far>
        </clip>
      </camera>
      <plugin filename="libgazebo_ros_camera.so" name="front_right">
        <ros>
          <namespace>implement/radar</namespace>
        </ros>
        <baseline>0.2</baseline>
        <alwaysOn>true</alwaysOn>
        <updateRate>10.0</updateRate>
        <cameraName>nominal_implement_radar_front_right_depth</cameraName>
        <frame_name>nominal_implement_radar_front_right_optical_frame</frame_name>
        <pointCloudCutoff>0.1</pointCloudCutoff>
        <pointCloudCutoffMax>10000.0</pointCloudCutoffMax>
        <distortionK1>0.00000001</distortionK1>
        <distortionK2>0.00000001</distortionK2>
        <distortionK3>0.00000001</distortionK3>
        <distortionT1>0.00000001</distortionT1>
        <distortionT2>0.00000001</distortionT2>
        <CxPrime>0</CxPrime>
        <Cx>0</Cx>
        <Cy>0</Cy>
        <focalLength>0</focalLength>
        <hackBaseline>0</hackBaseline>
      </plugin>
    </sensor>
  </gazebo>
  <!-- Radar links and joints -->
  <link name="nominal_implement_radar_front_left">
    <inertial>
      <mass value="0.0005"/>
      <origin rpy=" 0 0 0" xyz="0 0 0"/>
      <inertia ixx="0.001" ixy="0" ixz="0" iyy="0.001" iyz="0" izz="0.001"/>
    </inertial>
    <collision name="nominal_implement_radar_front_left_collision">
      <origin rpy=" 0 0 0" xyz="0 0 0"/>
      <geometry>
        <box size="0.02 0.1 0.1"/>
      </geometry>
    </collision>
    <visual name="nominal_implement_radar_front_left_visual">
      <origin rpy=" 0 1.57079 -1.57079" xyz="0 -0.002 0"/>
      <geometry>
        <box size="0.02 0.1 0.1"/>
        <!-- <mesh filename="file://$(find sensor_description)/models/smartmicro_type169/meshes/smartmicro_type169.dae" scale="1.0 1.0 1.0" /> -->
      </geometry>
    </visual>
  </link>
  <joint name="nominal_implement_radar_front_left_joint" type="fixed">
    <origin rpy="0 0 0" xyz="0.007 0 -0.084"/>
    <parent link="implement_camera_bracket_front_left"/>
    <child link="nominal_implement_radar_front_left"/>
  </joint>
  <link name="nominal_implement_radar_front_left_optical_frame">
    <inertial>
      <mass value="0.0005"/>
      <origin rpy=" 0 0 0" xyz="0 0 0"/>
      <inertia ixx="0.001" ixy="0" ixz="0" iyy="0.001" iyz="0" izz="0.001"/>
    </inertial>
  </link>
  <joint name="nominal_implement_radar_front_left_optical_joint" type="fixed">
    <origin rpy="-1.57 0 -1.57" xyz="0 0 0"/>
    <parent link="nominal_implement_radar_front_left"/>
    <child link="nominal_implement_radar_front_left_optical_frame"/>
  </joint>
  <link name="implement_radar_front_left">
    <inertial>
      <mass value="0.0005"/>
      <origin rpy=" 0 0 0" xyz="0 0 0"/>
      <inertia ixx="0.001" ixy="0" ixz="0" iyy="0.001" iyz="0" izz="0.001"/>
    </inertial>
  </link>
  <joint name="nominal_implement_radar_front_left_implement_radar_front_left_joint" type="fixed">
    <parent link="nominal_implement_radar_front_left"/>
    <child link="implement_radar_front_left"/>
    <origin rpy="0.0 -0.576 0" xyz="0 0 -0.5"/>
  </joint>
  <!-- radar simulated by depth camera plugin -->
  <gazebo reference="nominal_implement_radar_front_left">
    <sensor name="front_left" type="depth">
      <update_rate>5</update_rate>
      <camera>
        <horizontal_fov>2.44</horizontal_fov>
        <image>
          <width>70</width>
          <height>14</height>
          <format>R8G8B8</format>
        </image>
        <clip>
          <near>0.1</near>
          <far>1000</far>
        </clip>
      </camera>
      <plugin filename="libgazebo_ros_camera.so" name="front_left">
        <ros>
          <namespace>implement/radar</namespace>
        </ros>
        <baseline>0.2</baseline>
        <alwaysOn>true</alwaysOn>
        <updateRate>10.0</updateRate>
        <cameraName>nominal_implement_radar_front_left_depth</cameraName>
        <frame_name>nominal_implement_radar_front_left_optical_frame</frame_name>
        <pointCloudCutoff>0.1</pointCloudCutoff>
        <pointCloudCutoffMax>10000.0</pointCloudCutoffMax>
        <distortionK1>0.00000001</distortionK1>
        <distortionK2>0.00000001</distortionK2>
        <distortionK3>0.00000001</distortionK3>
        <distortionT1>0.00000001</distortionT1>
        <distortionT2>0.00000001</distortionT2>
        <CxPrime>0</CxPrime>
        <Cx>0</Cx>
        <Cy>0</Cy>
        <focalLength>0</focalLength>
        <hackBaseline>0</hackBaseline>
      </plugin>
    </sensor>
  </gazebo>
  <!-- Radar links and joints -->
  <link name="nominal_implement_radar_rear">
    <inertial>
      <mass value="0.0005"/>
      <origin rpy=" 0 0 0" xyz="0 0 0"/>
      <inertia ixx="0.001" ixy="0" ixz="0" iyy="0.001" iyz="0" izz="0.001"/>
    </inertial>
    <collision name="nominal_implement_radar_rear_collision">
      <origin rpy=" 0 0 0" xyz="0 0 0"/>
      <geometry>
        <box size="0.02 0.1 0.1"/>
      </geometry>
    </collision>
    <visual name="nominal_implement_radar_rear_visual">
      <origin rpy=" 0 1.57079 -1.57079" xyz="0 -0.002 0"/>
      <geometry>
        <box size="0.02 0.1 0.1"/>
        <!-- <mesh filename="file://$(find sensor_description)/models/smartmicro_type169/meshes/smartmicro_type169.dae" scale="1.0 1.0 1.0" /> -->
      </geometry>
    </visual>
  </link>
  <joint name="nominal_implement_radar_rear_joint" type="fixed">
    <origin rpy="3.1415926535897931 0 0" xyz="0.007 0 -0.084"/>
    <parent link="implement_camera_bracket_rear"/>
    <child link="nominal_implement_radar_rear"/>
  </joint>
  <link name="nominal_implement_radar_rear_optical_frame">
    <inertial>
      <mass value="0.0005"/>
      <origin rpy=" 0 0 0" xyz="0 0 0"/>
      <inertia ixx="0.001" ixy="0" ixz="0" iyy="0.001" iyz="0" izz="0.001"/>
    </inertial>
  </link>
  <joint name="nominal_implement_radar_rear_optical_joint" type="fixed">
    <origin rpy="-1.57 0 -1.57" xyz="0 0 0"/>
    <parent link="nominal_implement_radar_rear"/>
    <child link="nominal_implement_radar_rear_optical_frame"/>
  </joint>
  <link name="implement_radar_rear">
    <inertial>
      <mass value="0.0005"/>
      <origin rpy=" 0 0 0" xyz="0 0 0"/>
      <inertia ixx="0.001" ixy="0" ixz="0" iyy="0.001" iyz="0" izz="0.001"/>
    </inertial>
  </link>
  <joint name="nominal_implement_radar_rear_implement_radar_rear_joint" type="fixed">
    <parent link="nominal_implement_radar_rear"/>
    <child link="implement_radar_rear"/>
    <origin rpy="0 0.7 0" xyz="0.1 0 0.3"/>
  </joint>
  <!-- radar simulated by depth camera plugin -->
  <gazebo reference="nominal_implement_radar_rear">
    <sensor name="rear" type="depth">
      <update_rate>5</update_rate>
      <camera>
        <horizontal_fov>2.44</horizontal_fov>
        <image>
          <width>70</width>
          <height>14</height>
          <format>R8G8B8</format>
        </image>
        <clip>
          <near>0.1</near>
          <far>1000</far>
        </clip>
      </camera>
      <plugin filename="libgazebo_ros_camera.so" name="rear">
        <ros>
          <namespace>implement/radar</namespace>
        </ros>
        <baseline>0.2</baseline>
        <alwaysOn>true</alwaysOn>
        <updateRate>10.0</updateRate>
        <cameraName>nominal_implement_radar_rear_depth</cameraName>
        <frame_name>nominal_implement_radar_rear_optical_frame</frame_name>
        <pointCloudCutoff>0.1</pointCloudCutoff>
        <pointCloudCutoffMax>10000.0</pointCloudCutoffMax>
        <distortionK1>0.00000001</distortionK1>
        <distortionK2>0.00000001</distortionK2>
        <distortionK3>0.00000001</distortionK3>
        <distortionT1>0.00000001</distortionT1>
        <distortionT2>0.00000001</distortionT2>
        <CxPrime>0</CxPrime>
        <Cx>0</Cx>
        <Cy>0</Cy>
        <focalLength>0</focalLength>
        <hackBaseline>0</hackBaseline>
      </plugin>
    </sensor>
  </gazebo>
</robot>
